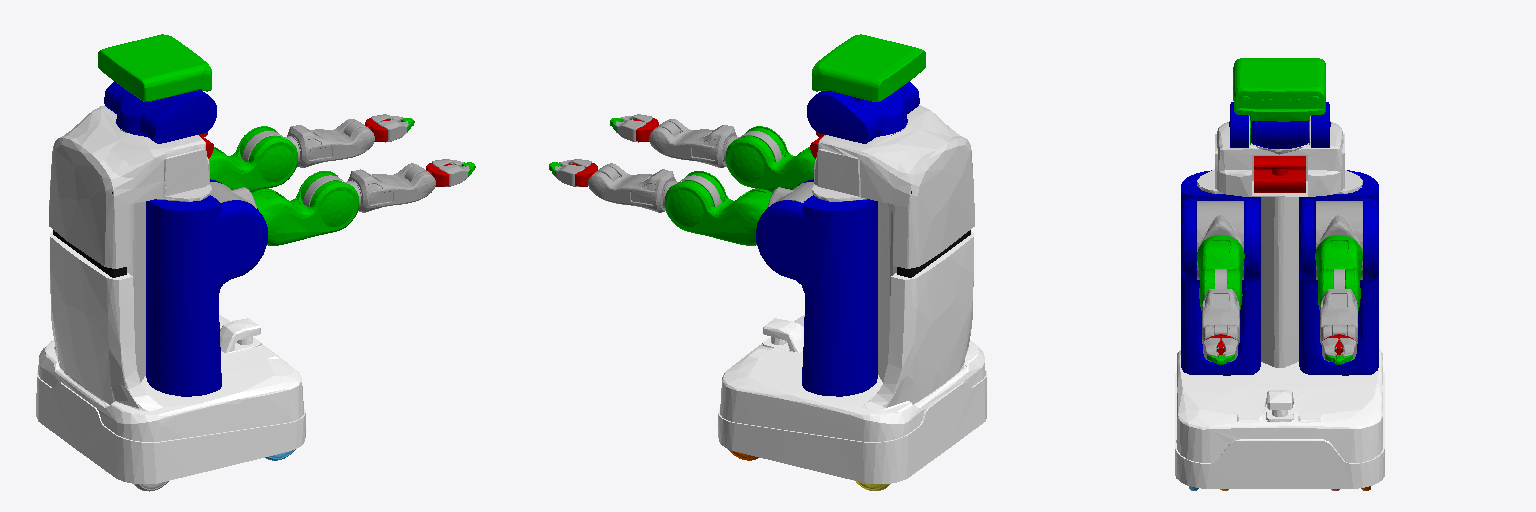
--- Render facts (derived) ---
Views: 3 orthographic renders of the robot side by side, from view 1: azimuth 30°, elevation 25°; view 2: azimuth 150°, elevation 25°; view 3: azimuth 270°, elevation 25°.
Model pr2 with 95 links and 94 joints (21 revolute, 19 continuous, 5 prismatic, 49 fixed), rooted at base_footprint, posed all joints at 0.
Links seen in each view (by area): view 1: base_link, torso_lift_link, r_shoulder_pan_link, head_tilt_link, r_upper_arm_link, head_pan_link, l_upper_arm_link, l_forearm_link, r_forearm_link, r_shoulder_lift_link; view 2: base_link, torso_lift_link, l_shoulder_pan_link, head_tilt_link, l_upper_arm_link, head_pan_link, r_upper_arm_link, r_forearm_link, l_forearm_link, l_shoulder_lift_link; view 3: base_link, torso_lift_link, l_shoulder_pan_link, r_shoulder_pan_link, head_tilt_link, head_pan_link, r_upper_arm_link, l_upper_arm_link, laser_tilt_mount_link, r_shoulder_lift_link, l_shoulder_lift_link, l_forearm_link (+1 smaller).
Link boxes in pixels (<box>): base_link: <box>36,231,305,484</box>; torso_lift_link: <box>49,105,211,381</box>; r_shoulder_pan_link: <box>146,179,267,396</box>; head_tilt_link: <box>98,34,211,101</box>; r_upper_arm_link: <box>251,171,358,245</box>; head_pan_link: <box>104,81,216,143</box>; l_upper_arm_link: <box>209,126,297,191</box>; l_forearm_link: <box>287,119,374,167</box>; r_forearm_link: <box>348,163,435,212</box>; r_shoulder_lift_link: <box>210,182,256,208</box>; base_link: <box>718,231,986,483</box>; torso_lift_link: <box>812,105,974,381</box>; l_shoulder_pan_link: <box>756,179,877,396</box>; head_tilt_link: <box>812,34,925,101</box>; l_upper_arm_link: <box>665,171,771,245</box>; head_pan_link: <box>807,81,919,143</box>; r_upper_arm_link: <box>726,126,814,192</box>; r_forearm_link: <box>649,119,736,167</box>; l_forearm_link: <box>588,163,675,212</box>; l_shoulder_lift_link: <box>767,182,813,207</box>; base_link: <box>1175,349,1384,488</box>; torso_lift_link: <box>1197,116,1362,367</box>; l_shoulder_pan_link: <box>1299,170,1378,375</box>; r_shoulder_pan_link: <box>1181,170,1260,375</box>; head_tilt_link: <box>1233,58,1325,144</box>; head_pan_link: <box>1229,102,1330,148</box>; r_upper_arm_link: <box>1197,235,1244,310</box>; l_upper_arm_link: <box>1315,235,1362,310</box>; laser_tilt_mount_link: <box>1254,156,1305,192</box>; r_shoulder_lift_link: <box>1197,201,1243,279</box>; l_shoulder_lift_link: <box>1316,201,1362,279</box>; l_forearm_link: <box>1320,289,1357,344</box>.
Bounding box of the posed robot: 1.31 × 0.6668 × 1.47 m (x, y, z).
Meshes: 20 distinct files referenced, 35 mesh visuals loaded (15 Collada DAE); not drawn: 11 (reference not matched to a file when rendering).

The robot description file, URDF, robot "pr2":
<?xml version="1.0" ?>
<robot name="pr2" xmlns:body="http://playerstage.sourceforge.net/gazebo/xmlschema/#body" xmlns:controller="http://playerstage.sourceforge.net/gazebo/xmlschema/#controller" xmlns:geom="http://playerstage.sourceforge.net/gazebo/xmlschema/#geom" xmlns:interface="http://playerstage.sourceforge.net/gazebo/xmlschema/#interface" xmlns:joint="http://playerstage.sourceforge.net/gazebo/xmlschema/#joint" xmlns:sensor="http://playerstage.sourceforge.net/gazebo/xmlschema/#sensor" xmlns:xacro="http://ros.org/wiki/xacro">
  <gazebo>
    <controller:gazebo_ros_controller_manager name="gazebo_ros_controller_manager" plugin="libgazebo_ros_controller_manager.so">
      <alwaysOn>true</alwaysOn>
      <updateRate>1000.0</updateRate>
      <interface:audio name="gazebo_ros_controller_manager_dummy_iface"/>
    </controller:gazebo_ros_controller_manager>
    <controller:gazebo_ros_power_monitor name="gazebo_ros_power_monitor_controller" plugin="libgazebo_ros_power_monitor.so">
      <alwaysOn>true</alwaysOn>
      <updateRate>1.0</updateRate>
      <timeout>5</timeout>
      <interface:audio name="power_monitor_dummy_interface"/>
      <powerStateTopic>power_state</powerStateTopic>
      <powerStateRate>10.0</powerStateRate>
      <fullChargeCapacity>87.78</fullChargeCapacity>
      <dischargeRate>-474</dischargeRate>
      <chargeRate>525</chargeRate>
      <dischargeVoltage>15.52</dischargeVoltage>
      <chargeVoltage>16.41</chargeVoltage>
    </controller:gazebo_ros_power_monitor>
  </gazebo>
  <material name="Blue">
    <color rgba="0 0 0.8 1"/>
  </material>
  <material name="Green">
    <color rgba="0 0.8 0 1"/>
  </material>
  <material name="Grey">
    <color rgba="0.7 0.7 0.7 1"/>
  </material>
  <material name="Grey2">
    <color rgba="0.9 0.9 0.9 1"/>
  </material>
  <material name="Red">
    <color rgba="0.8 0 0 1"/>
  </material>
  <material name="White">
    <color rgba="1 1 1 1"/>
  </material>
  <material name="Black">
    <color rgba="0.1 0.1 0.1 1"/>
  </material>
  <material name="LightGrey">
    <color rgba="0.6 0.6 0.6 1"/>
  </material>
  <material name="Caster">
    <texture filename="package://pr2_description/materials/textures/pr2_caster_texture.png"/>
  </material>
  <material name="Wheel_l">
    <texture filename="package://pr2_description/materials/textures/pr2_wheel_left.png"/>
  </material>
  <material name="Wheel_r">
    <texture filename="package://pr2_description/materials/textures/pr2_wheel_right.png"/>
  </material>
  <material name="RollLinks">
    <texture filename="package://pr2_description/materials/textures/pr2_wheel_left.png"/>
  </material>
  <link name="base_link">
    <inertial>
      <mass value="116"/>
      <origin xyz="-0.061 0 0.1465"/>
      <inertia ixx="5.652232699207" ixy="-0.009719934438" ixz="1.293988226423" iyy="5.669473158652" iyz="-0.007379583694" izz="3.683196351726"/>
    </inertial>
    <visual>
      <origin rpy="0 0 0" xyz="0 0 0"/>
      <geometry>
        <mesh filename="package://pr2_description/meshes/base_v0/base.dae"/>
      </geometry>
      <material name="White"/>
    </visual>
    <collision>
      <origin rpy="0 0 0" xyz="0 0 0"/>
      <geometry>
        <mesh filename="package://pr2_description/meshes/base_v0/base_L.stl"/>
      </geometry>
    </collision>
  </link>
  <link name="base_footprint">
    <inertial>
      <mass value="1"/>
      <origin xyz="0 0 0"/>
      <inertia ixx="0.01" ixy="0" ixz="0" iyy="0.01" iyz="0" izz="0.01"/>
    </inertial>
    <visual>
      <origin rpy="0 0 0" xyz="0 0 0"/>
      <geometry>
        <box size="0.01 0.01 0.01"/>
      </geometry>
      <material name="White"/>
    </visual>
    <collision>
      <origin rpy="0 0 0" xyz="0 0 0.071"/>
      <geometry>
        <box size="0.001 0.001 0.001"/>
      </geometry>
    </collision>
  </link>
  <joint name="base_footprint_joint" type="fixed">
    <parent link="base_footprint"/>
    <child link="base_link"/>
    <origin rpy="0 0 0" xyz="0 0 0.051"/>
  </joint>
  <link name="base_bellow_link">
    <inertial>
      <mass value="1"/>
      <origin xyz="0 0 0"/>
      <inertia ixx="0.01" ixy="0" ixz="0" iyy="0.01" iyz="0" izz="0.01"/>
    </inertial>
    <visual>
      <origin rpy="0 0 0" xyz="0 0 0"/>
      <geometry>
        <box size="0.05 0.37 0.3"/>
      </geometry>
      <material name="Black"/>
    </visual>
    <collision>
      <origin rpy="0 0 0" xyz="0 0 0"/>
      <geometry>
        <box size="0.05 0.37 0.3"/>
      </geometry>
    </collision>
  </link>
  <joint name="base_bellow_joint" type="fixed">
    <parent link="base_link"/>
    <child link="base_bellow_link"/>
    <origin rpy="0 0 0" xyz="-0.29 0 0.8"/>
  </joint>
  <joint name="base_laser_joint" type="fixed">
    <parent link="base_link"/>
    <child link="base_laser_link"/>
    <origin rpy="0 0 0" xyz="0.275 0 0.252"/>
    <axis xyz="0 1 0"/>
  </joint>
  <link name="base_laser_link" type="laser">
    <inertial>
      <mass value="0.001"/>
      <origin rpy="0 0 0" xyz="0 0 0"/>
      <inertia ixx="0.0001" ixy="0" ixz="0" iyy="0.000001" iyz="0" izz="0.0001"/>
    </inertial>
  </link>
  <gazebo reference="base_laser_link">
    <sensor:ray name="base_laser">
      <rayCount>640</rayCount>
      <rangeCount>640</rangeCount>
      <laserCount>1</laserCount>
      <origin>0.0 0.0 0.0</origin>
      <displayRays>false</displayRays>
      <minAngle>-129.998394137</minAngle>
      <maxAngle>129.998394137</maxAngle>
      <minRange>0.08</minRange>
      <maxRange>10.0</maxRange>
      <resRange>0.01</resRange>
      <updateRate>20</updateRate>
      <controller:gazebo_ros_laser name="gazebo_ros_base_laser_controller" plugin="libgazebo_ros_laser.so">
        <gaussianNoise>0.005</gaussianNoise>
        <alwaysOn>true</alwaysOn>
        <updateRate>20</updateRate>
        <topicName>base_scan</topicName>
        <frameName>base_laser_link</frameName>
        <interface:laser name="gazebo_ros_base_laser_iface"/>
      </controller:gazebo_ros_laser>
    </sensor:ray>
  </gazebo>
  <joint name="fl_caster_rotation_joint" type="continuous">
    <parent link="base_link"/>
    <child link="fl_caster_rotation_link"/>
    <origin rpy="0 0 0" xyz="0.2246 0.2246 0.0282"/>
    <axis xyz="0 0 1"/>
    <limit effort="100" velocity="100"/>
    <dynamics damping="0.0" friction="0.0"/>
    <safety_controller k_velocity="10"/>
    <calibration rising="-0.785398163397"/>
  </joint>
  <link name="fl_caster_rotation_link">
    <inertial>
      <mass value="3.473082"/>
      <origin xyz="0 0 0.07"/>
      <inertia ixx="0.012411765597" ixy="-0.000711733678" ixz="0.00050272983" iyy="0.015218160428" iyz="-0.000004273467" izz="0.011763977943"/>
    </inertial>
    <visual>
      <origin rpy="0 0 0" xyz="0 0 0"/>
      <geometry>
        <mesh filename="package://pr2_description/meshes/base_v0/caster.stl"/>
      </geometry>
      <material name="Caster"/>
    </visual>
    <collision>
      <origin rpy="0 0 0" xyz="0 0 0"/>
      <geometry>
        <mesh filename="package://pr2_description/meshes/base_v0/caster_L.stl"/>
      </geometry>
    </collision>
  </link>
  <transmission name="fl_caster_rotation_trans" type="pr2_mechanism_model/SimpleTransmission">
    <actuator name="fl_caster_rotation_motor"/>
    <joint name="fl_caster_rotation_joint"/>
    <mechanicalReduction>-79.2380952381</mechanicalReduction>
  </transmission>
  <joint name="fl_caster_l_wheel_joint" type="continuous">
    <parent link="fl_caster_rotation_link"/>
    <child link="fl_caster_l_wheel_link"/>
    <origin rpy="0 0 0" xyz="0 0.049 0"/>
    <axis xyz="0 1 0"/>
    <limit effort="100" velocity="100"/>
    <dynamics damping="0.0" friction="0.0"/>
    <safety_controller k_velocity="10"/>
  </joint>
  <link name="fl_caster_l_wheel_link">
    <inertial>
      <mass value="0.44036"/>
      <origin xyz="0 0 0"/>
      <inertia ixx="0.012411765597" ixy="-0.000711733678" ixz="0.00050272983" iyy="0.015218160428" iyz="-0.000004273467" izz="0.011763977943"/>
    </inertial>
    <visual>
      <origin rpy="0 0 0" xyz="0 0 0"/>
      <geometry>
        <mesh filename="package://pr2_description/meshes/base_v0/wheel.dae"/>
      </geometry>
      <material name="Wheel_l"/>
    </visual>
    <collision>
      <origin rpy="1.57079632679 0 0" xyz="0 0 0"/>
      <geometry>
        <cylinder length="0.034" radius="0.074792"/>
      </geometry>
    </collision>
  </link>
  <gazebo reference="fl_caster_l_wheel_link">
    <mu1 value="100.0"/>
    <mu2 value="100.0"/>
    <kp value="1000000.0"/>
    <kd value="1.0"/>
  </gazebo>
  <transmission name="fl_caster_l_wheel_trans" type="pr2_mechanism_model/SimpleTransmission">
    <actuator name="fl_caster_l_wheel_motor"/>
    <joint name="fl_caster_l_wheel_joint"/>
    <mechanicalReduction>79.2380952381</mechanicalReduction>
  </transmission>
  <joint name="fl_caster_r_wheel_joint" type="continuous">
    <parent link="fl_caster_rotation_link"/>
    <child link="fl_caster_r_wheel_link"/>
    <origin rpy="0 0 0" xyz="0 -0.049 0"/>
    <axis xyz="0 1 0"/>
    <limit effort="100" velocity="100"/>
    <dynamics damping="0.0" friction="0.0"/>
    <safety_controller k_velocity="10"/>
  </joint>
  <link name="fl_caster_r_wheel_link">
    <inertial>
      <mass value="0.44036"/>
      <origin xyz="0 0 0"/>
      <inertia ixx="0.012411765597" ixy="-0.000711733678" ixz="0.00050272983" iyy="0.015218160428" iyz="-0.000004273467" izz="0.011763977943"/>
    </inertial>
    <visual>
      <origin rpy="0 0 0" xyz="0 0 0"/>
      <geometry>
        <mesh filename="package://pr2_description/meshes/base_v0/wheel.dae"/>
      </geometry>
      <material name="Wheel_r"/>
    </visual>
    <collision>
      <origin rpy="1.57079632679 0 0" xyz="0 0 0"/>
      <geometry>
        <cylinder length="0.034" radius="0.074792"/>
      </geometry>
    </collision>
  </link>
  <gazebo reference="fl_caster_r_wheel_link">
    <mu1 value="100.0"/>
    <mu2 value="100.0"/>
    <kp value="1000000.0"/>
    <kd value="1.0"/>
  </gazebo>
  <transmission name="fl_caster_r_wheel_trans" type="pr2_mechanism_model/SimpleTransmission">
    <actuator name="fl_caster_r_wheel_motor"/>
    <joint name="fl_caster_r_wheel_joint"/>
    <mechanicalReduction>-79.2380952381</mechanicalReduction>
  </transmission>
  <gazebo reference="fl_caster_rotation_link">
    <material value="PR2/caster_texture"/>
  </gazebo>
  <joint name="fr_caster_rotation_joint" type="continuous">
    <parent link="base_link"/>
    <child link="fr_caster_rotation_link"/>
    <origin rpy="0 0 0" xyz="0.2246 -0.2246 0.0282"/>
    <axis xyz="0 0 1"/>
    <limit effort="100" velocity="100"/>
    <dynamics damping="0.0" friction="0.0"/>
    <safety_controller k_velocity="10"/>
    <calibration rising="-0.785398163397"/>
  </joint>
  <link name="fr_caster_rotation_link">
    <inertial>
      <mass value="3.473082"/>
      <origin xyz="0 0 0.07"/>
      <inertia ixx="0.012411765597" ixy="-0.000711733678" ixz="0.00050272983" iyy="0.015218160428" iyz="-0.000004273467" izz="0.011763977943"/>
    </inertial>
    <visual>
      <origin rpy="0 0 0" xyz="0 0 0"/>
      <geometry>
        <mesh filename="package://pr2_description/meshes/base_v0/caster.stl"/>
      </geometry>
      <material name="Caster"/>
    </visual>
    <collision>
      <origin rpy="0 0 0" xyz="0 0 0"/>
      <geometry>
        <mesh filename="package://pr2_description/meshes/base_v0/caster_L.stl"/>
      </geometry>
    </collision>
  </link>
  <transmission name="fr_caster_rotation_trans" type="pr2_mechanism_model/SimpleTransmission">
    <actuator name="fr_caster_rotation_motor"/>
    <joint name="fr_caster_rotation_joint"/>
    <mechanicalReduction>-79.2380952381</mechanicalReduction>
  </transmission>
  <joint name="fr_caster_l_wheel_joint" type="continuous">
    <parent link="fr_caster_rotation_link"/>
    <child link="fr_caster_l_wheel_link"/>
    <origin rpy="0 0 0" xyz="0 0.049 0"/>
    <axis xyz="0 1 0"/>
    <limit effort="100" velocity="100"/>
    <dynamics damping="0.0" friction="0.0"/>
    <safety_controller k_velocity="10"/>
  </joint>
  <link name="fr_caster_l_wheel_link">
    <inertial>
      <mass value="0.44036"/>
      <origin xyz="0 0 0"/>
      <inertia ixx="0.012411765597" ixy="-0.000711733678" ixz="0.00050272983" iyy="0.015218160428" iyz="-0.000004273467" izz="0.011763977943"/>
    </inertial>
    <visual>
      <origin rpy="0 0 0" xyz="0 0 0"/>
      <geometry>
        <mesh filename="package://pr2_description/meshes/base_v0/wheel.dae"/>
      </geometry>
      <material name="Wheel_l"/>
    </visual>
    <collision>
      <origin rpy="1.57079632679 0 0" xyz="0 0 0"/>
      <geometry>
        <cylinder length="0.034" radius="0.074792"/>
      </geometry>
    </collision>
  </link>
  <gazebo reference="fr_caster_l_wheel_link">
    <mu1 value="100.0"/>
    <mu2 value="100.0"/>
    <kp value="1000000.0"/>
    <kd value="1.0"/>
  </gazebo>
  <transmission name="fr_caster_l_wheel_trans" type="pr2_mechanism_model/SimpleTransmission">
    <actuator name="fr_caster_l_wheel_motor"/>
    <joint name="fr_caster_l_wheel_joint"/>
    <mechanicalReduction>79.2380952381</mechanicalReduction>
  </transmission>
  <joint name="fr_caster_r_wheel_joint" type="continuous">
    <parent link="fr_caster_rotation_link"/>
    <child link="fr_caster_r_wheel_link"/>
    <origin rpy="0 0 0" xyz="0 -0.049 0"/>
    <axis xyz="0 1 0"/>
    <limit effort="100" velocity="100"/>
    <dynamics damping="0.0" friction="0.0"/>
    <safety_controller k_velocity="10"/>
  </joint>
  <link name="fr_caster_r_wheel_link">
    <inertial>
      <mass value="0.44036"/>
      <origin xyz="0 0 0"/>
      <inertia ixx="0.012411765597" ixy="-0.000711733678" ixz="0.00050272983" iyy="0.015218160428" iyz="-0.000004273467" izz="0.011763977943"/>
    </inertial>
    <visual>
      <origin rpy="0 0 0" xyz="0 0 0"/>
      <geometry>
        <mesh filename="package://pr2_description/meshes/base_v0/wheel.dae"/>
      </geometry>
      <material name="Wheel_r"/>
    </visual>
    <collision>
      <origin rpy="1.57079632679 0 0" xyz="0 0 0"/>
      <geometry>
        <cylinder length="0.034" radius="0.074792"/>
      </geometry>
    </collision>
  </link>
  <gazebo reference="fr_caster_r_wheel_link">
    <mu1 value="100.0"/>
    <mu2 value="100.0"/>
    <kp value="1000000.0"/>
    <kd value="1.0"/>
  </gazebo>
  <transmission name="fr_caster_r_wheel_trans" type="pr2_mechanism_model/SimpleTransmission">
    <actuator name="fr_caster_r_wheel_motor"/>
    <joint name="fr_caster_r_wheel_joint"/>
    <mechanicalReduction>-79.2380952381</mechanicalReduction>
  </transmission>
  <gazebo reference="fr_caster_rotation_link">
    <material value="PR2/caster_texture"/>
  </gazebo>
  <joint name="bl_caster_rotation_joint" type="continuous">
    <parent link="base_link"/>
    <child link="bl_caster_rotation_link"/>
    <origin rpy="0 0 0" xyz="-0.2246 0.2246 0.0282"/>
    <axis xyz="0 0 1"/>
    <limit effort="100" velocity="100"/>
    <dynamics damping="0.0" friction="0.0"/>
    <safety_controller k_velocity="10"/>
    <calibration rising="2.35619449019"/>
  </joint>
  <link name="bl_caster_rotation_link">
    <inertial>
      <mass value="3.473082"/>
      <origin xyz="0 0 0.07"/>
      <inertia ixx="0.012411765597" ixy="-0.000711733678" ixz="0.00050272983" iyy="0.015218160428" iyz="-0.000004273467" izz="0.011763977943"/>
    </inertial>
    <visual>
      <origin rpy="0 0 0" xyz="0 0 0"/>
      <geometry>
        <mesh filename="package://pr2_description/meshes/base_v0/caster.stl"/>
      </geometry>
      <material name="Caster"/>
    </visual>
    <collision>
      <origin rpy="0 0 0" xyz="0 0 0"/>
      <geometry>
        <mesh filename="package://pr2_description/meshes/base_v0/caster_L.stl"/>
      </geometry>
    </collision>
  </link>
  <transmission name="bl_caster_rotation_trans" type="pr2_mechanism_model/SimpleTransmission">
    <actuator name="bl_caster_rotation_motor"/>
    <joint name="bl_caster_rotation_joint"/>
    <mechanicalReduction>-79.2380952381</mechanicalReduction>
  </transmission>
  <joint name="bl_caster_l_wheel_joint" type="continuous">
    <parent link="bl_caster_rotation_link"/>
    <child link="bl_caster_l_wheel_link"/>
    <origin rpy="0 0 0" xyz="0 0.049 0"/>
    <axis xyz="0 1 0"/>
    <limit effort="100" velocity="100"/>
    <dynamics damping="0.0" friction="0.0"/>
    <safety_controller k_velocity="10"/>
  </joint>
  <link name="bl_caster_l_wheel_link">
    <inertial>
      <mass value="0.44036"/>
      <origin xyz="0 0 0"/>
      <inertia ixx="0.012411765597" ixy="-0.000711733678" ixz="0.00050272983" iyy="0.015218160428" iyz="-0.000004273467" izz="0.011763977943"/>
    </inertial>
    <visual>
      <origin rpy="0 0 0" xyz="0 0 0"/>
      <geometry>
        <mesh filename="package://pr2_description/meshes/base_v0/wheel.dae"/>
      </geometry>
      <material name="Wheel_l"/>
    </visual>
    <collision>
      <origin rpy="1.57079632679 0 0" xyz="0 0 0"/>
      <geometry>
        <cylinder length="0.034" radius="0.074792"/>
      </geometry>
    </collision>
  </link>
  <gazebo reference="bl_caster_l_wheel_link">
    <mu1 value="100.0"/>
    <mu2 value="100.0"/>
    <kp value="1000000.0"/>
    <kd value="1.0"/>
  </gazebo>
  <transmission name="bl_caster_l_wheel_trans" type="pr2_mechanism_model/SimpleTransmission">
    <actuator name="bl_caster_l_wheel_motor"/>
    <joint name="bl_caster_l_wheel_joint"/>
    <mechanicalReduction>79.2380952381</mechanicalReduction>
  </transmission>
  <joint name="bl_caster_r_wheel_joint" type="continuous">
    <parent link="bl_caster_rotation_link"/>
    <child link="bl_caster_r_wheel_link"/>
    <origin rpy="0 0 0" xyz="0 -0.049 0"/>
    <axis xyz="0 1 0"/>
    <limit effort="100" velocity="100"/>
    <dynamics damping="0.0" friction="0.0"/>
    <safety_controller k_velocity="10"/>
  </joint>
  <link name="bl_caster_r_wheel_link">
    <inertial>
      <mass value="0.44036"/>
      <origin xyz="0 0 0"/>
      <inertia ixx="0.012411765597" ixy="-0.000711733678" ixz="0.00050272983" iyy="0.015218160428" iyz="-0.000004273467" izz="0.011763977943"/>
    </inertial>
    <visual>
      <origin rpy="0 0 0" xyz="0 0 0"/>
      <geometry>
        <mesh filename="package://pr2_description/meshes/base_v0/wheel.dae"/>
      </geometry>
      <material name="Wheel_r"/>
    </visual>
    <collision>
      <origin rpy="1.57079632679 0 0" xyz="0 0 0"/>
      <geometry>
        <cylinder length="0.034" radius="0.074792"/>
      </geometry>
    </collision>
  </link>
  <gazebo reference="bl_caster_r_wheel_link">
    <mu1 value="100.0"/>
    <mu2 value="100.0"/>
    <kp value="1000000.0"/>
    <kd value="1.0"/>
  </gazebo>
  <transmission name="bl_caster_r_wheel_trans" type="pr2_mechanism_model/SimpleTransmission">
    <actuator name="bl_caster_r_wheel_motor"/>
    <joint name="bl_caster_r_wheel_joint"/>
    <mechanicalReduction>-79.2380952381</mechanicalReduction>
  </transmission>
  <gazebo reference="bl_caster_rotation_link">
    <material value="PR2/caster_texture"/>
  </gazebo>
  <joint name="br_caster_rotation_joint" type="continuous">
    <parent link="base_link"/>
    <child link="br_caster_rotation_link"/>
    <origin rpy="0 0 0" xyz="-0.2246 -0.2246 0.0282"/>
    <axis xyz="0 0 1"/>
    <limit effort="100" velocity="100"/>
    <dynamics damping="0.0" friction="0.0"/>
    <safety_controller k_velocity="10"/>
    <calibration rising="2.35619449019"/>
  </joint>
  <link name="br_caster_rotation_link">
    <inertial>
      <mass value="3.473082"/>
      <origin xyz="0 0 0.07"/>
      <inertia ixx="0.012411765597" ixy="-0.000711733678" ixz="0.00050272983" iyy="0.015218160428" iyz="-0.000004273467" izz="0.011763977943"/>
    </inertial>
    <visual>
      <origin rpy="0 0 0" xyz="0 0 0"/>
      <geometry>
        <mesh filename="package://pr2_description/meshes/base_v0/caster.stl"/>
      </geometry>
      <material name="Caster"/>
    </visual>
    <collision>
      <origin rpy="0 0 0" xyz="0 0 0"/>
      <geometry>
        <mesh filename="package://pr2_description/meshes/base_v0/caster_L.stl"/>
      </geometry>
    </collision>
  </link>
  <transmission name="br_caster_rotation_trans" type="pr2_mechanism_model/SimpleTransmission">
    <actuator name="br_caster_rotation_motor"/>
    <joint name="br_caster_rotation_joint"/>
    <mechanicalReduction>-79.2380952381</mechanicalReduction>
  </transmission>
  <joint name="br_caster_l_wheel_joint" type="continuous">
    <parent link="br_caster_rotation_link"/>
    <child link="br_caster_l_wheel_link"/>
    <origin rpy="0 0 0" xyz="0 0.049 0"/>
    <axis xyz="0 1 0"/>
    <limit effort="100" velocity="100"/>
    <dynamics damping="0.0" friction="0.0"/>
    <safety_controller k_velocity="10"/>
  </joint>
  <link name="br_caster_l_wheel_link">
    <inertial>
      <mass value="0.44036"/>
      <origin xyz="0 0 0"/>
      <inertia ixx="0.012411765597" ixy="-0.000711733678" ixz="0.00050272983" iyy="0.015218160428" iyz="-0.000004273467" izz="0.011763977943"/>
    </inertial>
    <visual>
      <origin rpy="0 0 0" xyz="0 0 0"/>
      <geometry>
        <mesh filename="package://pr2_description/meshes/base_v0/wheel.dae"/>
      </geometry>
      <material name="Wheel_l"/>
    </visual>
    <collision>
      <origin rpy="1.57079632679 0 0" xyz="0 0 0"/>
      <geometry>
        <cylinder length="0.034" radius="0.074792"/>
      </geometry>
    </collision>
  </link>
  <gazebo reference="br_caster_l_wheel_link">
    <mu1 value="100.0"/>
    <mu2 value="100.0"/>
    <kp value="1000000.0"/>
    <kd value="1.0"/>
  </gazebo>
  <transmission name="br_caster_l_wheel_trans" type="pr2_mechanism_model/SimpleTransmission">
    <actuator name="br_caster_l_wheel_motor"/>
    <joint name="br_caster_l_wheel_joint"/>
    <mechanicalReduction>79.2380952381</mechanicalReduction>
  </transmission>
  <joint name="br_caster_r_wheel_joint" type="continuous">
    <parent link="br_caster_rotation_link"/>
    <child link="br_caster_r_wheel_link"/>
    <origin rpy="0 0 0" xyz="0 -0.049 0"/>
    <axis xyz="0 1 0"/>
    <limit effort="100" velocity="100"/>
    <dynamics damping="0.0" friction="0.0"/>
    <safety_controller k_velocity="10"/>
  </joint>
  <link name="br_caster_r_wheel_link">
    <inertial>
      <mass value="0.44036"/>
      <origin xyz="0 0 0"/>
      <inertia ixx="0.012411765597" ixy="-0.000711733678" ixz="0.00050272983" iyy="0.015218160428" iyz="-0.000004273467" izz="0.011763977943"/>
    </inertial>
    <visual>
      <origin rpy="0 0 0" xyz="0 0 0"/>
      <geometry>
        <mesh filename="package://pr2_description/meshes/base_v0/wheel.dae"/>
      </geometry>
      <material name="Wheel_r"/>
    </visual>
    <collision>
      <origin rpy="1.57079632679 0 0" xyz="0 0 0"/>
      <geometry>
        <cylinder length="0.034" radius="0.074792"/>
      </geometry>
    </collision>
  </link>
  <gazebo reference="br_caster_r_wheel_link">
    <mu1 value="100.0"/>
    <mu2 value="100.0"/>
    <kp value="1000000.0"/>
    <kd value="1.0"/>
  </gazebo>
  <transmission name="br_caster_r_wheel_trans" type="pr2_mechanism_model/SimpleTransmission">
    <actuator name="br_caster_r_wheel_motor"/>
    <joint name="br_caster_r_wheel_joint"/>
    <mechanicalReduction>-79.2380952381</mechanicalReduction>
  </transmission>
  <gazebo reference="br_caster_rotation_link">
    <material value="PR2/caster_texture"/>
  </gazebo>
  <gazebo reference="base_link">
    <selfCollide>false</selfCollide>
    <sensor:contact name="base_contact_sensor">
      <geom>base_link_geom</geom>
      <updateRate>100.0</updateRate>
      <controller:gazebo_ros_bumper name="base_gazebo_ros_bumper_controller" plugin="libgazebo_ros_bumper.so">
        <alwaysOn>true</alwaysOn>
        <updateRate>100.0</updateRate>
        <bumperTopicName>base_bumper</bumperTopicName>
        <interface:bumper name="base_bumper_iface"/>
      </controller:gazebo_ros_bumper>
    </sensor:contact>
  </gazebo>
  <gazebo reference="base_bellow_link">
    <material value="PR2/Black"/>
  </gazebo>
  <gazebo>
    <controller:gazebo_ros_p3d name="p3d_base_controller" plugin="libgazebo_ros_p3d.so">
      <alwaysOn>true</alwaysOn>
      <updateRate>100.0</updateRate>
      <bodyName/>
      <topicName>base_pose_ground_truth</topicName>
      <gaussianNoise>0.01</gaussianNoise>
      <frameName>map</frameName>
      <xyzOffsets>0 0 0</xyzOffsets>
      <rpyOffsets>0 0 0</rpyOffsets>
      <interface:position name="p3d_base_position"/>
    </controller:gazebo_ros_p3d>
    <canonicalBody>base_footprint</canonicalBody>
  </gazebo>
  <joint name="torso_lift_joint" type="prismatic">
    <parent link="base_link"/>
    <child link="torso_lift_link"/>
    <origin rpy="0 0 0" xyz="-0.05 0 0.739675"/>
    <axis xyz="0 0 1"/>
    <limit effort="10000" lower="0" upper="0.33" velocity="0.013"/>
    <dynamics damping="20000.0"/>
    <safety_controller k_position="100" k_velocity="2000000" soft_lower_limit="0.0115" soft_upper_limit="0.325"/>
    <calibration falling="0.00475"/>
  </joint>
  <link name="torso_lift_link">
    <inertial>
      <mass value="36.248046"/>
      <origin xyz="-0.1 0 -0.0885"/>
      <inertia ixx="2.771653750257" ixy="0.004284522609" ixz="-0.160418504506" iyy="2.510019507959" iyz="0.029664468704" izz="0.526432355569"/>
    </inertial>
    <visual>
      <origin rpy="0 0 0" xyz="0 0 0"/>
      <geometry>
        <mesh filename="package://pr2_description/meshes/torso_v0/torso_lift.dae"/>
      </geometry>
      <material name="Grey2"/>
    </visual>
    <collision>
      <origin rpy="0 0 0" xyz="0 0 0"/>
      <geometry>
        <mesh filename="package://pr2_description/meshes/torso_v0/torso_lift_L.stl"/>
      </geometry>
    </collision>
  </link>
  <joint name="l_torso_lift_side_plate_joint" type="fixed">
    <parent link="torso_lift_link"/>
    <child link="l_torso_lift_side_plate_link"/>
    <origin rpy="0 0 0" xyz="0.0535 0.209285 0.176625"/>
  </joint>
  <link name="l_torso_lift_side_plate_link">
    <inertial>
      <mass value="0.1"/>
      <origin xyz="-0.0625 0 0.05"/>
      <inertia ixx="0.001" ixy="0" ixz="0" iyy="0.001" iyz="0" izz="0.001"/>
    </inertial>
  </link>
  <joint name="r_torso_lift_side_plate_joint" type="fixed">
    <parent link="torso_lift_link"/>
    <child link="r_torso_lift_side_plate_link"/>
    <origin rpy="0 0 0" xyz="0.0535 -0.209285 0.176625"/>
  </joint>
  <link name="r_torso_lift_side_plate_link">
    <inertial>
      <mass value="0.1"/>
      <origin xyz="-0.0625 0 0.05"/>
      <inertia ixx="0.001" ixy="0" ixz="0" iyy="0.001" iyz="0" izz="0.001"/>
    </inertial>
  </link>
  <link name="torso_lift_motor_screw_link">
    <inertial>
      <mass value="1"/>
      <origin rpy="0 0 0" xyz="0 0 0"/>
      <inertia ixx="0.001" ixy="0" ixz="0" iyy="0.001" iyz="0" izz="0.001"/>
    </inertial>
  </link>
  <joint name="torso_lift_motor_screw_joint" type="continuous">
    <parent link="base_link"/>
    <child link="torso_lift_motor_screw_link"/>
    <origin rpy="0 0 0" xyz="-0.15 0 0.7"/>
    <axis xyz="0 0 1"/>
    <dynamics damping="0.0001"/>
  </joint>
  <gazebo reference="torso_lift_link">
    <sensor:contact name="torso_lift_contact_sensor">
      <geom>torso_lift_link_geom</geom>
      <updateRate>100.0</updateRate>
      <controller:gazebo_ros_bumper name="torso_lift_gazebo_ros_bumper_controller" plugin="libgazebo_ros_bumper.so">
        <alwaysOn>true</alwaysOn>
        <updateRate>100.0</updateRate>
        <bumperTopicName>torso_lift_bumper</bumperTopicName>
        <interface:bumper name="torso_lift_gazebo_ros_bumper_iface"/>
      </controller:gazebo_ros_bumper>
    </sensor:contact>
  </gazebo>
  <gazebo>
    <joint:screw name="torso_lift_screw_torso_lift_joint">
      <body1/>
      <body2/>
      <anchor>torso_lift_motor_screw_link</anchor>
      <anchorOffset>0 0 0</anchorOffset>
      <axis>0 0 1</axis>
      <threadPitch>3141.6</threadPitch>
    </joint:screw>
  </gazebo>
  <transmission name="torso_lift_trans" type="pr2_mechanism_model/SimpleTransmission">
    <actuator name="torso_lift_motor"/>
    <joint name="torso_lift_joint"/>
    <mechanicalReduction>-47641.529999999999</mechanicalReduction>
    <simulated_actuated_joint name="torso_lift_motor_screw_joint" simulated_reduction="3141.6"/>
  </transmission>
  <joint name="imu_joint" type="fixed">
    <parent link="torso_lift_link"/>
    <child link="imu_link"/>
    <origin rpy="0 3.14159265359 0" xyz="-0.02977 -0.1497 0.164"/>
    <axis xyz="0 1 0"/>
  </joint>
  <link name="imu_link">
    <inertial>
      <mass value="0.001"/>
      <origin rpy="0 0 0" xyz="0 0 0"/>
      <inertia ixx="0.0001" ixy="0" ixz="0" iyy="0.000001" iyz="0" izz="0.0001"/>
    </inertial>
  </link>
  <gazebo>
    <controller:gazebo_ros_imu name="imu_controller" plugin="libgazebo_ros_imu.so">
      <alwaysOn>true</alwaysOn>
      <updateRate>100.0</updateRate>
      <bodyName/>
      <topicName>torso_lift_imu/data</topicName>
      <gaussianNoise>2.89e-08</gaussianNoise>
      <xyzOffsets>0 0 0</xyzOffsets>
      <rpyOffsets>0 0 0</rpyOffsets>
      <interface:position name="imu_position"/>
    </controller:gazebo_ros_imu>
  </gazebo>
  <joint name="head_pan_joint" type="revolute">
    <parent link="torso_lift_link"/>
    <child link="head_pan_link"/>
    <origin rpy="0 0 0" xyz="-0.01707 0 0.38145"/>
    <axis xyz="0 0 1"/>
    <limit effort="2.645" lower="-3.007" upper="3.007" velocity="6"/>
    <dynamics damping="0.5"/>
    <safety_controller k_position="100" k_velocity="1.5" soft_lower_limit="-2.857" soft_upper_limit="2.857"/>
    <calibration rising="-0.008252844573"/>
  </joint>
  <link name="head_pan_link">
    <inertial>
      <mass value="6.339"/>
      <origin rpy="0 0 0" xyz="0.010907 0.031693 0.090507"/>
      <inertia ixx="0.032497592" ixy="0.00063604088" ixz="0.0025851534" iyy="0.046545627" iyz="-0.0024534295" izz="0.057652724"/>
    </inertial>
    <visual>
      <origin rpy="0 0 0" xyz="0 0 0"/>
      <geometry>
        <mesh filename="package://pr2_description/meshes/head_v0/head_pan.dae"/>
      </geometry>
      <material name="Blue"/>
    </visual>
    <collision>
      <geometry>
        <mesh filename="package://pr2_description/meshes/head_v0/head_pan_L.stl"/>
      </geometry>
    </collision>
  </link>
  <transmission name="head_pan_trans" type="pr2_mechanism_model/SimpleTransmission">
    <actuator name="head_pan_motor"/>
    <joint name="head_pan_joint"/>
    <mechanicalReduction>6</mechanicalReduction>
  </transmission>
  <joint name="head_tilt_joint" type="revolute">
    <parent link="head_pan_link"/>
    <child link="head_tilt_link"/>
    <origin rpy="0 0 0" xyz="0.068 0 0"/>
    <axis xyz="0 1 0"/>
    <limit effort="18" lower="-0.471238" upper="1.39626" velocity="5"/>
    <dynamics damping="10.0"/>
    <safety_controller k_position="100" k_velocity="3" soft_lower_limit="-0.3712" soft_upper_limit="1.29626"/>
    <calibration falling="0"/>
  </joint>
  <link name="head_tilt_link">
    <inertial>
      <mass value="4.479"/>
      <origin rpy="0 0 0" xyz="0.001716 -0.019556 0.055002"/>
      <inertia ixx="0.024223222" ixy="0.00062063507" ixz="-0.000096909696" iyy="0.054723086" iyz="0.002797024" izz="0.067306377"/>
    </inertial>
    <visual>
      <origin rpy="0 0 0" xyz="0 0 0"/>
      <geometry>
        <mesh filename="package://pr2_description/meshes/head_v0/head_tilt.dae"/>
      </geometry>
      <material name="Green"/>
    </visual>
    <collision>
      <origin rpy="0 0 0" xyz="0 0 0"/>
      <geometry>
        <mesh filename="package://pr2_description/meshes/head_v0/head_tilt_L.stl"/>
      </geometry>
    </collision>
  </link>
  <transmission name="head_tilt_trans" type="pr2_mechanism_model/SimpleTransmission">
    <actuator name="head_tilt_motor"/>
    <joint name="head_tilt_joint"/>
    <mechanicalReduction>6</mechanicalReduction>
  </transmission>
  <joint name="head_plate_frame_joint" type="fixed">
    <parent link="head_tilt_link"/>
    <child link="head_plate_frame"/>
    <origin rpy="0 0 0" xyz="0.0232 0 0.0645"/>
  </joint>
  <link name="head_plate_frame">
    <inertial>
      <mass value="0.01"/>
      <origin rpy="0 0 0" xyz="0 0 0"/>
      <inertia ixx="0.001" ixy="0" ixz="0" iyy="0.001" iyz="0" izz="0.001"/>
    </inertial>
    <visual>
      <origin rpy="0 0 0" xyz="0 0 0"/>
      <geometry>
        <box size="0.01 0.01 0.01"/>
      </geometry>
      <material name="Blue"/>
    </visual>
    <collision>
      <origin rpy="0 0 0" xyz="0 0 0"/>
      <geometry>
        <box size="0.01 0.01 0.01"/>
      </geometry>
    </collision>
  </link>
  <gazebo reference="head_plate_frame">
    <material value="Gazebo/Grey"/>
  </gazebo>
  <joint name="sensor_mount_frame_joint" type="fixed">
    <parent link="head_plate_frame"/>
    <child link="sensor_mount_link"/>
    <origin rpy="0 0 0" xyz="0 0 0"/>
  </joint>
  <link name="sensor_mount_link">
    <inertial>
      <mass value="0.05"/>
      <origin rpy="0 0 0" xyz="0 0 0"/>
      <inertia ixx="0.001" ixy="0" ixz="0" iyy="0.001" iyz="0" izz="0.01"/>
    </inertial>
    <visual>
      <origin rpy="0 0 0" xyz="0 0 0"/>
      <geometry>
        <box size="0.01 0.01 0.01"/>
      </geometry>
      <material name="Blue"/>
    </visual>
  </link>
  <joint name="high_def_frame_joint" type="fixed">
    <parent link="sensor_mount_link"/>
    <child link="high_def_frame"/>
    <origin rpy="0.003950230149 0.009640277817 0.004751077372" xyz="0.067494638794 -0.105978808008 0.065286584089"/>
  </joint>
  <link name="high_def_frame">
    <inertial>
      <mass value="0.01"/>
      <origin rpy="0 0 0" xyz="0 0 0"/>
      <inertia ixx="0.001" ixy="0" ixz="0" iyy="0.001" iyz="0" izz="0.001"/>
    </inertial>
  </link>
  <joint name="high_def_optical_frame_joint" type="fixed">
    <parent link="high_def_frame"/>
    <child link="high_def_optical_frame"/>
    <origin rpy="-1.57079632679 0 -1.57079632679" xyz="0 0 0"/>
  </joint>
  <link name="high_def_optical_frame">
    <inertial>
      <mass value="0.01"/>
      <origin rpy="0 0 0" xyz="0 0 0"/>
      <inertia ixx="0.001" ixy="0" ixz="0" iyy="0.001" iyz="0" izz="0.001"/>
    </inertial>
  </link>
  <gazebo reference="high_def_frame">
    <sensor:camera name="high_def_sensor">
      <imageFormat>R8G8B8</imageFormat>
      <imageSize>2448 2050</imageSize>
      <hfov>45</hfov>
      <nearClip>0.1</nearClip>
      <farClip>100</farClip>
      <updateRate>20.0</updateRate>
      <controller:gazebo_ros_prosilica name="high_def_controller" plugin="libgazebo_ros_prosilica.so">
        <alwaysOn>true</alwaysOn>
        <updateRate>20.0</updateRate>
        <cameraName>prosilica</cameraName>
        <imageTopicName>image_raw</imageTopicName>
        <cameraInfoTopicName>camera_info</cameraInfoTopicName>
        <pollServiceName>request_image</pollServiceName>
        <frameName>high_def_optical_frame</frameName>
        <CxPrime>1224.5</CxPrime>
        <Cx>1224.5</Cx>
        <Cy>1025.5</Cy>
        <focalLength>2955</focalLength>
        <distortionK1>0.0</distortionK1>
        <distortionK2>0.0</distortionK2>
        <distortionK3>0.0</distortionK3>
        <distortionT1>0.0</distortionT1>
        <distortionT2>0.0</distortionT2>
      </controller:gazebo_ros_prosilica>
    </sensor:camera>
    <material value="Gazebo/Black"/>
  </gazebo>
  <joint name="double_stereo_frame_joint" type="fixed">
    <parent link="sensor_mount_link"/>
    <child link="double_stereo_link"/>
    <origin rpy="0 0 0" xyz="0 0 0"/>
  </joint>
  <link name="double_stereo_link">
    <inertial>
      <mass value="0.1"/>
      <origin rpy="0 0 0" xyz="0 0 0"/>
      <inertia ixx="0.001" ixy="0" ixz="0" iyy="0.001" iyz="0" izz="0.01"/>
    </inertial>
    <visual>
      <origin rpy="0 0 0" xyz="-0.01 0 0.025"/>
      <geometry>
        <box size="0.02 0.12 0.05"/>
      </geometry>
      <material name="Blue"/>
    </visual>
  </link>
  <joint name="wide_stereo_frame_joint" type="fixed">
    <parent link="double_stereo_link"/>
    <child link="wide_stereo_link"/>
    <origin rpy="-0.008126433032 0.019046003283 -0.02103398718" xyz="0.049441200823 0.029621964434 0.05947904502"/>
  </joint>
  <link name="wide_stereo_link">
    <inertial>
      <mass value="0.1"/>
      <origin rpy="0 0 0" xyz="0 0 0"/>
      <inertia ixx="0.01" ixy="0" ixz="0" iyy="0.01" iyz="0" izz="0.01"/>
    </inertial>
  </link>
  <joint name="wide_stereo_optical_frame_joint" type="fixed">
    <parent link="wide_stereo_link"/>
    <child link="wide_stereo_optical_frame"/>
    <origin rpy="-1.57079632679 0 -1.57079632679" xyz="0 0 0"/>
  </joint>
  <link name="wide_stereo_optical_frame" type="camera"/>
  <joint name="wide_stereo_gazebo_l_stereo_camera_frame_joint" type="fixed">
    <parent link="wide_stereo_link"/>
    <child link="wide_stereo_gazebo_l_stereo_camera_frame"/>
    <origin rpy="0 0 0" xyz="0 0 0"/>
  </joint>
  <link name="wide_stereo_gazebo_l_stereo_camera_frame">
    <inertial>
      <mass value="0.01"/>
      <origin xyz="0 0 0"/>
      <inertia ixx="0.001" ixy="0" ixz="0" iyy="0.001" iyz="0" izz="0.001"/>
    </inertial>
  </link>
  <joint name="wide_stereo_gazebo_l_stereo_camera_optical_frame_joint" type="fixed">
    <parent link="wide_stereo_gazebo_l_stereo_camera_frame"/>
    <child link="wide_stereo_gazebo_l_stereo_camera_optical_frame"/>
    <origin rpy="-1.57079632679 0 -1.57079632679" xyz="0 0 0"/>
  </joint>
  <link name="wide_stereo_gazebo_l_stereo_camera_optical_frame"/>
  <gazebo reference="wide_stereo_gazebo_l_stereo_camera_frame">
    <sensor:camera name="wide_stereo_gazebo_l_stereo_camera_sensor">
      <imageSize>640 480</imageSize>
      <imageFormat>BAYER_BGGR8</imageFormat>
      <hfov>90</hfov>
      <nearClip>0.1</nearClip>
      <farClip>100</farClip>
      <updateRate>25.0</updateRate>
      <controller:gazebo_ros_depth_camera name="wide_stereo_gazebo_l_stereo_camera_controller" plugin="libgazebo_ros_depth_camera.so">
        <alwaysOn>true</alwaysOn>
        <updateRate>25.0</updateRate>
        <cameraName>wide_stereo/left</cameraName>
        <imageTopicName>image_raw</imageTopicName>
        <cameraInfoTopicName>camera_info</cameraInfoTopicName>
        <frameName>wide_stereo_optical_frame</frameName>
        <hackBaseline>0</hackBaseline>
        <CxPrime>320.5</CxPrime>
        <Cx>320.5</Cx>
        <Cy>240.5</Cy>
        <focalLength>320</focalLength>
        <distortionK1>0.0</distortionK1>
        <distortionK2>0.0</distortionK2>
        <distortionK3>0.0</distortionK3>
        <distortionT1>0.0</distortionT1>
        <distortionT2>0.0</distortionT2>
        <interface:camera name="wide_stereo_gazebo_l_stereo_camera_iface"/>
      </controller:gazebo_ros_depth_camera>
    </sensor:camera>
    <turnGravityOff>true</turnGravityOff>
    <material>PR2/Blue</material>
  </gazebo>
  <joint name="wide_stereo_gazebo_r_stereo_camera_frame_joint" type="fixed">
    <parent link="wide_stereo_gazebo_l_stereo_camera_frame"/>
    <child link="wide_stereo_gazebo_r_stereo_camera_frame"/>
    <origin rpy="0 0 0" xyz="0 -0.09 0"/>
  </joint>
  <link name="wide_stereo_gazebo_r_stereo_camera_frame">
    <inertial>
      <mass value="0.01"/>
      <origin xyz="0 0 0"/>
      <inertia ixx="0.001" ixy="0" ixz="0" iyy="0.001" iyz="0" izz="0.001"/>
    </inertial>
  </link>
  <joint name="wide_stereo_gazebo_r_stereo_camera_optical_frame_joint" type="fixed">
    <parent link="wide_stereo_gazebo_r_stereo_camera_frame"/>
    <child link="wide_stereo_gazebo_r_stereo_camera_optical_frame"/>
    <origin rpy="-1.57079632679 0 -1.57079632679" xyz="0 0 0"/>
  </joint>
  <link name="wide_stereo_gazebo_r_stereo_camera_optical_frame"/>
  <gazebo reference="wide_stereo_gazebo_r_stereo_camera_frame">
    <sensor:camera name="wide_stereo_gazebo_r_stereo_camera_sensor">
      <imageSize>640 480</imageSize>
      <imageFormat>BAYER_BGGR8</imageFormat>
      <hfov>90</hfov>
      <nearClip>0.1</nearClip>
      <farClip>100</farClip>
      <updateRate>25.0</updateRate>
      <controller:gazebo_ros_depth_camera name="wide_stereo_gazebo_r_stereo_camera_controller" plugin="libgazebo_ros_depth_camera.so">
        <alwaysOn>true</alwaysOn>
        <updateRate>25.0</updateRate>
        <cameraName>wide_stereo/right</cameraName>
        <imageTopicName>image_raw</imageTopicName>
        <cameraInfoTopicName>camera_info</cameraInfoTopicName>
        <frameName>wide_stereo_optical_frame</frameName>
        <hackBaseline>0.09</hackBaseline>
        <CxPrime>320.5</CxPrime>
        <Cx>320.5</Cx>
        <Cy>240.5</Cy>
        <focalLength>320</focalLength>
        <distortionK1>0.0</distortionK1>
        <distortionK2>0.0</distortionK2>
        <distortionK3>0.0</distortionK3>
        <distortionT1>0.0</distortionT1>
        <distortionT2>0.0</distortionT2>
        <interface:camera name="wide_stereo_gazebo_r_stereo_camera_iface"/>
      </controller:gazebo_ros_depth_camera>
    </sensor:camera>
    <turnGravityOff>true</turnGravityOff>
    <material>PR2/Blue</material>
  </gazebo>
  <gazebo reference="wide_stereo_link">
    <material value="PR2/Blue"/>
    <turnGravityOff value="true"/>
  </gazebo>
  <gazebo reference="wide_stereo_optical_frame">
    <material value="Gazebo/White"/>
    <turnGravityOff value="true"/>
  </gazebo>
  <joint name="narrow_stereo_frame_joint" type="fixed">
    <parent link="double_stereo_link"/>
    <child link="narrow_stereo_link"/>
    <origin rpy="-0.008253203121 0.006334171924 0.01501917267" xyz="0.050692066301 0.059443706736 0.059877919653"/>
  </joint>
  <link name="narrow_stereo_link">
    <inertial>
      <mass value="0.1"/>
      <origin rpy="0 0 0" xyz="0 0 0"/>
      <inertia ixx="0.01" ixy="0" ixz="0" iyy="0.01" iyz="0" izz="0.01"/>
    </inertial>
  </link>
  <joint name="narrow_stereo_optical_frame_joint" type="fixed">
    <parent link="narrow_stereo_link"/>
    <child link="narrow_stereo_optical_frame"/>
    <origin rpy="-1.57079632679 0 -1.57079632679" xyz="0 0 0"/>
  </joint>
  <link name="narrow_stereo_optical_frame" type="camera"/>
  <joint name="narrow_stereo_gazebo_l_stereo_camera_frame_joint" type="fixed">
    <parent link="narrow_stereo_link"/>
    <child link="narrow_stereo_gazebo_l_stereo_camera_frame"/>
    <origin rpy="0 0 0" xyz="0 0 0"/>
  </joint>
  <link name="narrow_stereo_gazebo_l_stereo_camera_frame">
    <inertial>
      <mass value="0.01"/>
      <origin xyz="0 0 0"/>
      <inertia ixx="0.001" ixy="0" ixz="0" iyy="0.001" iyz="0" izz="0.001"/>
    </inertial>
  </link>
  <joint name="narrow_stereo_gazebo_l_stereo_camera_optical_frame_joint" type="fixed">
    <parent link="narrow_stereo_gazebo_l_stereo_camera_frame"/>
    <child link="narrow_stereo_gazebo_l_stereo_camera_optical_frame"/>
    <origin rpy="-1.57079632679 0 -1.57079632679" xyz="0 0 0"/>
  </joint>
  <link name="narrow_stereo_gazebo_l_stereo_camera_optical_frame"/>
  <gazebo reference="narrow_stereo_gazebo_l_stereo_camera_frame">
    <sensor:camera name="narrow_stereo_gazebo_l_stereo_camera_sensor">
      <imageSize>640 480</imageSize>
      <imageFormat>L8</imageFormat>
      <hfov>45</hfov>
      <nearClip>0.1</nearClip>
      <farClip>100</farClip>
      <updateRate>25.0</updateRate>
      <controller:gazebo_ros_depth_camera name="narrow_stereo_gazebo_l_stereo_camera_controller" plugin="libgazebo_ros_depth_camera.so">
        <alwaysOn>true</alwaysOn>
        <updateRate>25.0</updateRate>
        <cameraName>narrow_stereo/left</cameraName>
        <imageTopicName>image_raw</imageTopicName>
        <cameraInfoTopicName>camera_info</cameraInfoTopicName>
        <frameName>narrow_stereo_optical_frame</frameName>
        <hackBaseline>0</hackBaseline>
        <CxPrime>320.5</CxPrime>
        <Cx>320.5</Cx>
        <Cy>240.5</Cy>
        <focalLength>772.55</focalLength>
        <distortionK1>0.0</distortionK1>
        <distortionK2>0.0</distortionK2>
        <distortionK3>0.0</distortionK3>
        <distortionT1>0.0</distortionT1>
        <distortionT2>0.0</distortionT2>
        <interface:camera name="narrow_stereo_gazebo_l_stereo_camera_iface"/>
      </controller:gazebo_ros_depth_camera>
    </sensor:camera>
    <turnGravityOff>true</turnGravityOff>
    <material>PR2/Blue</material>
  </gazebo>
  <joint name="narrow_stereo_gazebo_r_stereo_camera_frame_joint" type="fixed">
    <parent link="narrow_stereo_gazebo_l_stereo_camera_frame"/>
    <child link="narrow_stereo_gazebo_r_stereo_camera_frame"/>
    <origin rpy="0 0 0" xyz="0 -0.09 0"/>
  </joint>
  <link name="narrow_stereo_gazebo_r_stereo_camera_frame">
    <inertial>
      <mass value="0.01"/>
      <origin xyz="0 0 0"/>
      <inertia ixx="0.001" ixy="0" ixz="0" iyy="0.001" iyz="0" izz="0.001"/>
    </inertial>
  </link>
  <joint name="narrow_stereo_gazebo_r_stereo_camera_optical_frame_joint" type="fixed">
    <parent link="narrow_stereo_gazebo_r_stereo_camera_frame"/>
    <child link="narrow_stereo_gazebo_r_stereo_camera_optical_frame"/>
    <origin rpy="-1.57079632679 0 -1.57079632679" xyz="0 0 0"/>
  </joint>
  <link name="narrow_stereo_gazebo_r_stereo_camera_optical_frame"/>
  <gazebo reference="narrow_stereo_gazebo_r_stereo_camera_frame">
    <sensor:camera name="narrow_stereo_gazebo_r_stereo_camera_sensor">
      <imageSize>640 480</imageSize>
      <imageFormat>L8</imageFormat>
      <hfov>45</hfov>
      <nearClip>0.1</nearClip>
      <farClip>100</farClip>
      <updateRate>25.0</updateRate>
      <controller:gazebo_ros_depth_camera name="narrow_stereo_gazebo_r_stereo_camera_controller" plugin="libgazebo_ros_depth_camera.so">
        <alwaysOn>true</alwaysOn>
        <updateRate>25.0</updateRate>
        <cameraName>narrow_stereo/right</cameraName>
        <imageTopicName>image_raw</imageTopicName>
        <cameraInfoTopicName>camera_info</cameraInfoTopicName>
        <frameName>narrow_stereo_optical_frame</frameName>
        <hackBaseline>0.09</hackBaseline>
        <CxPrime>320.5</CxPrime>
        <Cx>320.5</Cx>
        <Cy>240.5</Cy>
        <focalLength>772.55</focalLength>
        <distortionK1>0.0</distortionK1>
        <distortionK2>0.0</distortionK2>
        <distortionK3>0.0</distortionK3>
        <distortionT1>0.0</distortionT1>
        <distortionT2>0.0</distortionT2>
        <interface:camera name="narrow_stereo_gazebo_r_stereo_camera_iface"/>
      </controller:gazebo_ros_depth_camera>
    </sensor:camera>
    <turnGravityOff>true</turnGravityOff>
    <material>PR2/Blue</material>
  </gazebo>
  <gazebo reference="narrow_stereo_link">
    <material value="PR2/Blue"/>
    <turnGravityOff value="true"/>
  </gazebo>
  <gazebo reference="narrow_stereo_optical_frame">
    <material value="Gazebo/White"/>
    <turnGravityOff value="true"/>
  </gazebo>
  <gazebo reference="double_stereo_double_stereo_link">
    <material value="PR2/Blue"/>
  </gazebo>
  <gazebo reference="sensor_mount_sensor_link">
    <material value="PR2/Blue"/>
  </gazebo>
  <joint name="projector_wg6802418_frame_joint" type="fixed">
    <parent link="head_plate_frame"/>
    <child link="projector_wg6802418_frame"/>
    <origin rpy="0 0 0" xyz="0 0.11 0.0546"/>
  </joint>
  <link name="projector_wg6802418_frame">
    <inertial>
      <mass value="0.01"/>
      <origin rpy="0 0 0" xyz="0 0 0"/>
      <inertia ixx="0.001" ixy="0" ixz="0" iyy="0.001" iyz="0" izz="0.001"/>
    </inertial>
  </link>
  <joint name="projector_wg6802418_child_frame_joint" type="fixed">
    <parent link="projector_wg6802418_frame"/>
    <child link="projector_wg6802418_child_frame"/>
    <origin rpy="0 -1.57079632679 0" xyz="0 0 0"/>
  </joint>
  <link name="projector_wg6802418_child_frame">
    <inertial>
      <mass value="0.01"/>
      <origin rpy="0 0 0" xyz="0 0 0"/>
      <inertia ixx="0.001" ixy="0" ixz="0" iyy="0.001" iyz="0" izz="0.001"/>
    </inertial>
  </link>
  <gazebo reference="projector_wg6802418_child_frame">
    <projector name="projector_wg6802418_projector_wg6802418">


      <pose>0 0 0 0 -1.5707 0</pose>


      <texture>stereo_projection_pattern_high_res_red.png</texture>


      <fov>0.959931088597</fov>


      <near_clip>0.1</near_clip>


      <far_clip>10</far_clip>


    </projector>
  </gazebo>
  <gazebo>
    <controller:gazebo_ros_projector name="projector_wg6802418_controller" plugin="libgazebo_ros_projector.so">
      <projector>projector_wg6802418_child_frame/projector_wg6802418_projector_wg6802418</projector>
      <alwaysOn>true</alwaysOn>
      <updateRate>15.0</updateRate>
      <textureName>stereo_projection_pattern_high_res_red.png</textureName>
      <filterTextureName>stereo_projection_pattern_filter.png</filterTextureName>
      <textureTopicName>projector_wg6802418_controller/image</textureTopicName>
      <projectorTopicName>projector_wg6802418_controller/projector</projectorTopicName>
    </controller:gazebo_ros_projector>
  </gazebo>
  <joint name="head_mount_joint" type="fixed">
    <parent link="head_plate_frame"/>
    <child link="head_mount_link"/>
    <origin rpy="0 0 0" xyz="-0.138 0 0.091"/>
  </joint>
  <link name="head_mount_link">
    <inertial>
      <mass value="0.1"/>
      <origin rpy="0 0 0" xyz="0 0 0"/>
      <inertia ixx="0.01" ixy="0" ixz="0" iyy="0.01" iyz="0" izz="0.01"/>
    </inertial>
    <visual>
      <origin rpy="0 0 0" xyz="0 0 0"/>
      <geometry>
        <mesh filename="package://pr2_description/meshes/sensors/kinect_prosilica_v0/115x100_swept_back--coarse.STL" scale="0.001 0.001 0.001"/>
      </geometry>
      <material name="gray">
        <color rgba="0.5 0.5 0.5 1"/>
      </material>
    </visual>
    <collision>
      <origin rpy="0 0 0" xyz="0 0 0"/>
      <geometry>
        <sphere radius="0.0005"/>
      </geometry>
    </collision>
  </link>
  <joint name="head_mount_kinect_ir_joint" type="fixed">
    <parent link="head_mount_link"/>
    <child link="head_mount_kinect_ir_link"/>
    <origin rpy="0 0 0" xyz="-0.032267 0.0125 0.136453"/>
  </joint>
  <link name="head_mount_kinect_ir_link">
    <inertial>
      <mass value="0.1"/>
      <origin rpy="0 0 0" xyz="0 0 0"/>
      <inertia ixx="0.01" ixy="0" ixz="0" iyy="0.01" iyz="0" izz="0.01"/>
    </inertial>
    <visual>
      <origin rpy="0 0 0" xyz="0 0 0"/>
      <geometry>
        <sphere radius="0.0005"/>
      </geometry>
    </visual>
    <collision>
      <origin rpy="0 0 0" xyz="0 0 0"/>
      <geometry>
        <sphere radius="0.0005"/>
      </geometry>
    </collision>
  </link>
  <joint name="head_mount_kinect_ir_optical_frame_joint" type="fixed">
    <parent link="head_mount_kinect_ir_link"/>
    <child link="head_mount_kinect_ir_optical_frame"/>
    <origin rpy="-1.57079632679 0 -1.57079632679" xyz="0 0 0"/>
  </joint>
  <link name="head_mount_kinect_ir_optical_frame"/>
  <gazebo reference="head_mount_kinect_ir_link">
    <sensor:camera name="head_mount_ir_sensor">
      <imageFormat>L8</imageFormat>
      <imageSize>640 480</imageSize>
      <hfov>57</hfov>
      <nearClip>0.01</nearClip>
      <farClip>5</farClip>
      <updateRate>1.0</updateRate>
      <baseline>0.2</baseline>
      <controller:gazebo_ros_openni_kinect name="head_mount_kinect_ir_link_controller" plugin="libgazebo_ros_openni_kinect.so">
        <alwaysOn>true</alwaysOn>
        <updateRate>1.0</updateRate>
        <cameraName>head_mount_kinect_ir</cameraName>
        <imageTopicName>/head_mount_kinect/depth/image_raw</imageTopicName>
        <cameraInfoTopicName>/head_mount_kinect/depth/camera_info</cameraInfoTopicName>
        <depthImageTopicName>/head_mount_kinect/depth/image_raw</depthImageTopicName>
        <depthImageInfoTopicName>/head_mount_kinect/depth/camera_info</depthImageInfoTopicName>
        <pointCloudTopicName>/head_mount_kinect/depth/points</pointCloudTopicName>
        <frameName>head_mount_kinect_ir_optical_frame</frameName>
        <pointCloudCutoff>0.5</pointCloudCutoff>
        <distortionK1>0.00000001</distortionK1>
        <distortionK2>0.00000001</distortionK2>
        <distortionK3>0.00000001</distortionK3>
        <distortionT1>0.00000001</distortionT1>
        <distortionT2>0.00000001</distortionT2>
      </controller:gazebo_ros_openni_kinect>
    </sensor:camera>
    <material value="Gazebo/Red"/>
  </gazebo>
  <joint name="head_mount_kinect_rgb_joint" type="fixed">
    <parent link="head_mount_kinect_ir_link"/>
    <child link="head_mount_kinect_rgb_link"/>
    <origin rpy="0.004135698602 -0.011418438943 0.00154585264" xyz="-0.008114967638 -0.023055241899 0.002703111055"/>
  </joint>
  <link name="head_mount_kinect_rgb_link">
    <inertial>
      <mass value="0.1"/>
      <origin rpy="0 0 0" xyz="0 0 0"/>
      <inertia ixx="0.01" ixy="0" ixz="0" iyy="0.01" iyz="0" izz="0.01"/>
    </inertial>
    <visual>
      <origin rpy="0 0 0" xyz="0 0 0"/>
      <geometry>
        <sphere radius="0.0005"/>
      </geometry>
    </visual>
    <collision>
      <origin rpy="0 0 0" xyz="0 0 0"/>
      <geometry>
        <sphere radius="0.0005"/>
      </geometry>
    </collision>
  </link>
  <joint name="head_mount_kinect_rgb_optical_frame_joint" type="fixed">
    <parent link="head_mount_kinect_rgb_link"/>
    <child link="head_mount_kinect_rgb_optical_frame"/>
    <origin rpy="-1.57079632679 0 -1.57079632679" xyz="0 0 0"/>
  </joint>
  <link name="head_mount_kinect_rgb_optical_frame"/>
  <gazebo reference="head_mount_kinect_rgb_link">
    <sensor:camera name="head_mount_rgb_sensor">
      <imageFormat>R8G8B8</imageFormat>
      <imageSize>640 480</imageSize>
      <hfov>57</hfov>
      <nearClip>0.01</nearClip>
      <farClip>5</farClip>
      <updateRate>1.0</updateRate>
      <baseline>0.2</baseline>
      <controller:gazebo_ros_openni_kinect name="head_mount_kinect_rgb_link_controller" plugin="libgazebo_ros_openni_kinect.so">
        <alwaysOn>true</alwaysOn>
        <updateRate>1.0</updateRate>
        <cameraName>head_mount_kinect_rgb</cameraName>
        <imageTopicName>/head_mount_kinect/rgb/image_raw</imageTopicName>
        <cameraInfoTopicName>/head_mount_kinect/rgb/camera_info</cameraInfoTopicName>
        <pointCloudTopicName>/head_mount_kinect/depth_registered/points</pointCloudTopicName>
        <frameName>head_mount_kinect_rgb_optical_frame</frameName>
        <pointCloudCutoff>0.5</pointCloudCutoff>
        <distortionK1>0.00000001</distortionK1>
        <distortionK2>0.00000001</distortionK2>
        <distortionK3>0.00000001</distortionK3>
        <distortionT1>0.00000001</distortionT1>
        <distortionT2>0.00000001</distortionT2>
      </controller:gazebo_ros_openni_kinect>
    </sensor:camera>
    <material value="Gazebo/Red"/>
  </gazebo>
  <joint name="head_mount_prosilica_joint" type="fixed">
    <parent link="head_mount_link"/>
    <child link="head_mount_prosilica_link"/>
    <origin rpy="0 0 0" xyz="-0.046457 0.0125 0.088921"/>
  </joint>
  <link name="head_mount_prosilica_link">
    <inertial>
      <mass value="0.1"/>
      <origin rpy="0 0 0" xyz="0 0 0"/>
      <inertia ixx="0.01" ixy="0" ixz="0" iyy="0.01" iyz="0" izz="0.01"/>
    </inertial>
    <visual>
      <origin rpy="0 0 0" xyz="0 0 0"/>
      <geometry>
        <sphere radius="0.0005"/>
      </geometry>
    </visual>
    <collision>
      <origin rpy="0 0 0" xyz="0 0 0"/>
      <geometry>
        <sphere radius="0.0005"/>
      </geometry>
    </collision>
  </link>
  <joint name="head_mount_prosilica_optical_frame_joint" type="fixed">
    <parent link="head_mount_prosilica_link"/>
    <child link="head_mount_prosilica_optical_frame"/>
    <origin rpy="-1.57079632679 0 -1.57079632679" xyz="0 0 0"/>
  </joint>
  <link name="head_mount_prosilica_optical_frame"/>
  <gazebo reference="head_mount_prosilica_link">
    <sensor:camera name="head_mount_prosilica_link_sensor">
      <imageFormat>R8G8B8</imageFormat>
      <imageSize>320 240</imageSize>
      <hfov>64.2</hfov>
      <nearClip>0.1</nearClip>
      <farClip>100</farClip>
      <updateRate>1.0</updateRate>
      <controller:gazebo_ros_prosilica name="head_mount_prosilica_link_controller" plugin="libgazebo_ros_prosilica.so">
        <alwaysOn>true</alwaysOn>
        <updateRate>1.0</updateRate>
        <cameraName>prosilica_camera_1mb</cameraName>
        <imageTopicName>image_raw</imageTopicName>
        <cameraInfoTopicName>camera_info</cameraInfoTopicName>
        <pollServiceName>request_image</pollServiceName>
        <frameName>head_mount_prosilica_optical_frame</frameName>
        <distortionK1>0.0</distortionK1>
        <distortionK2>0.0</distortionK2>
        <distortionK3>0.0</distortionK3>
        <distortionT1>0.0</distortionT1>
        <distortionT2>0.0</distortionT2>
      </controller:gazebo_ros_prosilica>
    </sensor:camera>
    <sensor:camera name="head_mount_prosilica_link_sim_pcd_sensor">
      <imageFormat>R8G8B8</imageFormat>
      <imageSize>320 240</imageSize>
      <hfov>64.2</hfov>
      <nearClip>0.1</nearClip>
      <farClip>100</farClip>
      <updateRate>1.0</updateRate>
      <controller:gazebo_ros_openni_kinect name="head_mount_prosilica_link_sim_pcd_controller" plugin="libgazebo_ros_openni_kinect.so">
        <alwaysOn>true</alwaysOn>
        <updateRate>1.0</updateRate>
        <cameraName>prosilica_camera_1mb_sim_pcd</cameraName>
        <imageTopicName>image_raw</imageTopicName>
        <cameraInfoTopicName>camera_info</cameraInfoTopicName>
        <frameName>head_mount_prosilica_optical_frame</frameName>
      </controller:gazebo_ros_openni_kinect>
    </sensor:camera>
    <material value="Gazebo/Red"/>
  </gazebo>
  <joint name="laser_tilt_mount_joint" type="revolute">
    <parent link="torso_lift_link"/>
    <child link="laser_tilt_mount_link"/>
    <origin rpy="0 0 0" xyz="0.09893 0 0.227"/>
    <axis xyz="0 1 0"/>
    <limit effort="0.65" lower="-0.7854" upper="1.48353" velocity="10"/>
    <dynamics damping="0.008"/>
    <safety_controller k_position="100" k_velocity="0.05" soft_lower_limit="-0.7354" soft_upper_limit="1.43353"/>
    <calibration falling="0.0034904978"/>
  </joint>
  <link name="laser_tilt_mount_link">
    <inertial>
      <mass value="0.591"/>
      <origin rpy="0 0 0" xyz="-0.001136 0.00167 -0.00713"/>
      <inertia ixx="0.001195273" ixy="0.000023087" ixz="0.000037467" iyy="0.001083956" iyz="0.000034906" izz="0.000795014"/>
    </inertial>
    <visual>
      <origin rpy="0 0 0" xyz="0 0 0"/>
      <geometry>
        <mesh filename="package://pr2_description/meshes/tilting_laser_v0/tilting_hokuyo.dae"/>
      </geometry>
      <material name="Red"/>
    </visual>
    <collision>
      <origin rpy="0 0 0" xyz="0 0 0"/>
      <geometry>
        <mesh filename="package://pr2_description/meshes/tilting_laser_v0/tilting_hokuyo_L.stl"/>
      </geometry>
    </collision>
  </link>
  <joint name="laser_tilt_joint" type="fixed">
    <parent link="laser_tilt_mount_link"/>
    <child link="laser_tilt_link"/>
    <origin rpy="0 0 -0.013556390532" xyz="0 0 0.04545849653"/>
    <axis xyz="0 1 0"/>
  </joint>
  <link name="laser_tilt_link" type="laser">
    <inertial>
      <mass value="0.001"/>
      <origin rpy="0 0 0" xyz="0 0 0"/>
      <inertia ixx="0.0001" ixy="0" ixz="0" iyy="0.000001" iyz="0" izz="0.0001"/>
    </inertial>
  </link>
  <gazebo reference="laser_tilt_link">
    <sensor:ray name="laser_tilt">
      <rayCount>640</rayCount>
      <rangeCount>640</rangeCount>
      <laserCount>1</laserCount>
      <origin>0.0 0.0 0.0</origin>
      <displayRays>false</displayRays>
      <minAngle>-79.9999999086</minAngle>
      <maxAngle>79.9999999086</maxAngle>
      <minRange>0.08</minRange>
      <maxRange>10.0</maxRange>
      <resRange>0.01</resRange>
      <updateRate>40</updateRate>
      <controller:gazebo_ros_laser name="gazebo_ros_laser_tilt_controller" plugin="libgazebo_ros_laser.so">
        <gaussianNoise>0.005</gaussianNoise>
        <alwaysOn>true</alwaysOn>
        <updateRate>40</updateRate>
        <topicName>tilt_scan</topicName>
        <frameName>laser_tilt_link</frameName>
        <interface:laser name="gazebo_ros_laser_tilt_iface"/>
      </controller:gazebo_ros_laser>
    </sensor:ray>
  </gazebo>
  <gazebo reference="laser_tilt_mount_link"/>
  <transmission name="laser_tilt_mount_trans" type="pr2_mechanism_model/SimpleTransmission">
    <actuator name="laser_tilt_mount_motor"/>
    <joint name="laser_tilt_mount_joint"/>
    <mechanicalReduction>-6.05</mechanicalReduction>
  </transmission>
  <joint name="r_shoulder_pan_joint" type="revolute">
    <parent link="torso_lift_link"/>
    <child link="r_shoulder_pan_link"/>
    <origin rpy="0 0 0" xyz="0 -0.188 0"/>
    <axis xyz="0 0 1"/>
    <limit effort="30" lower="-2.2853981634" upper="0.714601836603" velocity="2.088"/>
    <dynamics damping="10.0"/>
    <safety_controller k_position="100" k_velocity="10" soft_lower_limit="-2.1353981634" soft_upper_limit="0.564601836603"/>
    <calibration rising="-0.794099973123"/>
  </joint>
  <link name="r_shoulder_pan_link">
    <inertial>
      <mass value="25.799322"/>
      <origin rpy="0 0 0" xyz="-0.001201 0.024513 -0.098231"/>
      <inertia ixx="0.86617914248" ixy="-0.06086507933" ixz="-0.12118061183" iyy="0.87421714893" iyz="-0.05886609911" izz="0.27353821674"/>
    </inertial>
    <visual>
      <origin rpy="0 0 0" xyz="0 0 0"/>
      <geometry>
        <mesh filename="package://pr2_description/meshes/shoulder_v0/shoulder_pan.dae"/>
      </geometry>
      <material name="Blue"/>
    </visual>
    <collision>
      <origin rpy="0 0 0" xyz="0 0 0"/>
      <geometry>
        <mesh filename="package://pr2_description/meshes/shoulder_v0/shoulder_pan.stl"/>
      </geometry>
    </collision>
  </link>
  <joint name="r_shoulder_lift_joint" type="revolute">
    <parent link="r_shoulder_pan_link"/>
    <child link="r_shoulder_lift_link"/>
    <origin rpy="0 0 0" xyz="0.1 0 0"/>
    <axis xyz="0 1 0"/>
    <limit effort="30" lower="-0.5236" upper="1.3963" velocity="2.082"/>
    <dynamics damping="10.0"/>
    <safety_controller k_position="100" k_velocity="10" soft_lower_limit="-0.3536" soft_upper_limit="1.2963"/>
    <calibration falling="-0.010516814386"/>
  </joint>
  <link name="r_shoulder_lift_link">
    <inertial>
      <mass value="2.74988"/>
      <origin rpy="0 0 0" xyz="0.02195 -0.02664 -0.03127"/>
      <inertia ixx="0.02105584615" ixy="0.00496704022" ixz="-0.00194808955" iyy="0.02127223737" iyz="0.0011042549" izz="0.01975753814"/>
    </inertial>
    <visual>
      <origin rpy="0 0 0" xyz="0 0 0"/>
      <geometry>
        <mesh filename="package://pr2_description/meshes/shoulder_v0/shoulder_lift.dae"/>
      </geometry>
      <material name="Grey"/>
    </visual>
    <collision>
      <origin rpy="0 0 0" xyz="0 0 0"/>
      <geometry>
        <mesh filename="package://pr2_description/meshes/shoulder_v0/shoulder_lift.stl"/>
      </geometry>
    </collision>
  </link>
  <joint name="r_upper_arm_roll_joint" type="revolute">
    <parent link="r_shoulder_lift_link"/>
    <child link="r_upper_arm_roll_link"/>
    <origin rpy="0 0 0" xyz="0 0 0"/>
    <axis xyz="1 0 0"/>
    <limit effort="30" lower="-3.9" upper="0.8" velocity="3.27"/>
    <dynamics damping="0.1"/>
    <safety_controller k_position="100" k_velocity="2" soft_lower_limit="-3.75" soft_upper_limit="0.65"/>
    <calibration rising="-1.555959398147"/>
  </joint>
  <link name="r_upper_arm_roll_link">
    <inertial>
      <mass value="0.1"/>
      <origin rpy="0 0 0" xyz="0 0 0"/>
      <inertia ixx="0.01" ixy="0" ixz="0" iyy="0.01" iyz="0" izz="0.01"/>
    </inertial>
    <visual>
      <origin rpy="0 0 0" xyz="0 0 0"/>
      <geometry>
        <mesh filename="package://pr2_description/meshes/shoulder_v0/upper_arm_roll.stl"/>
      </geometry>
      <material name="RollLinks"/>
    </visual>
    <collision>
      <origin rpy="0 0 0" xyz="0 0 0"/>
      <geometry>
        <mesh filename="package://pr2_description/meshes/shoulder_v0/upper_arm_roll_L.stl"/>
      </geometry>
    </collision>
  </link>
  <gazebo reference="r_upper_arm_roll_link">
    <material value="PR2/RollLinks"/>
    <turnGravityOff>true</turnGravityOff>
  </gazebo>
  <gazebo reference="r_upper_arm_roll_joint">
    <stopKd value="1.0"/>
    <stopKp value="1000000.0"/>
    <fudgeFactor value="0.5"/>
  </gazebo>
  <transmission name="r_upper_arm_roll_trans" type="pr2_mechanism_model/SimpleTransmission">
    <actuator name="r_upper_arm_roll_motor"/>
    <joint name="r_upper_arm_roll_joint"/>
    <mechanicalReduction>32.6525111499</mechanicalReduction>
  </transmission>
  <gazebo reference="r_shoulder_pan_link">
    <turnGravityOff>true</turnGravityOff>
  </gazebo>
  <gazebo reference="r_shoulder_pan_joint">
    <stopKd value="1.0"/>
    <stopKp value="1000000.0"/>
  </gazebo>
  <gazebo reference="r_shoulder_lift_link">
    <turnGravityOff>true</turnGravityOff>
  </gazebo>
  <gazebo reference="r_shoulder_lift_joint">
    <stopKd value="1.0"/>
    <stopKp value="1000000.0"/>
  </gazebo>
  <transmission name="r_shoulder_pan_trans" type="pr2_mechanism_model/SimpleTransmission">
    <actuator name="r_shoulder_pan_motor"/>
    <joint name="r_shoulder_pan_joint"/>
    <mechanicalReduction>63.1552452977</mechanicalReduction>
    <compensator k_belt="4000.0" kd_motor="15.0" lambda_combined="0.0" lambda_joint="40.0" lambda_motor="40.0" mass_motor="0.05"/>
  </transmission>
  <transmission name="r_shoulder_lift_trans" type="pr2_mechanism_model/SimpleTransmission">
    <actuator name="r_shoulder_lift_motor"/>
    <joint name="r_shoulder_lift_joint"/>
    <mechanicalReduction>61.8948225713</mechanicalReduction>
    <compensator k_belt="4000.0" kd_motor="10.0" lambda_combined="0.0" lambda_joint="60.0" lambda_motor="60.0" mass_motor="0.05"/>
  </transmission>
  <joint name="r_upper_arm_joint" type="fixed">
    <parent link="r_upper_arm_roll_link"/>
    <child link="r_upper_arm_link"/>
    <origin rpy="0 0 0" xyz="0 0 0"/>
  </joint>
  <link name="r_upper_arm_link">
    <inertial>
      <mass value="6.01769"/>
      <origin xyz="0.21398 -0.01621 -0.0002"/>
      <inertia ixx="0.01537748957" ixy="0.00375711247" ixz="-0.00070852914" iyy="0.0747367044" iyz="-0.0001793645" izz="0.07608763307"/>
    </inertial>
    <visual>
      <origin rpy="0 0 0" xyz="0 0 0"/>
      <geometry>
        <mesh filename="package://pr2_description/meshes/upper_arm_v0/upper_arm.dae"/>
      </geometry>
      <material name="Green"/>
    </visual>
    <collision>
      <origin rpy="0 0 0" xyz="0 0 0"/>
      <geometry>
        <mesh filename="package://pr2_description/meshes/upper_arm_v0/upper_arm.stl"/>
      </geometry>
    </collision>
  </link>
  <gazebo reference="r_upper_arm_link">
    <turnGravityOff>true</turnGravityOff>
  </gazebo>
  <joint name="r_forearm_roll_joint" type="continuous">
    <parent link="r_elbow_flex_link"/>
    <child link="r_forearm_roll_link"/>
    <origin rpy="0 0 0" xyz="0 0 0"/>
    <axis xyz="1 0 0"/>
    <limit effort="30" velocity="3.6"/>
    <dynamics damping="0.1"/>
    <safety_controller k_velocity="1"/>
    <calibration rising="-0.011467533262"/>
  </joint>
  <link name="r_forearm_roll_link">
    <inertial>
      <mass value="0.1"/>
      <origin xyz="0 0 0"/>
      <inertia ixx="0.01" ixy="0" ixz="0" iyy="0.01" iyz="0" izz="0.01"/>
    </inertial>
    <visual>
      <origin rpy="0 0 0" xyz="0 0 0"/>
      <geometry>
        <mesh filename="package://pr2_description/meshes/upper_arm_v0/forearm_roll.stl"/>
      </geometry>
      <material name="RollLinks"/>
    </visual>
    <collision>
      <origin rpy="0 0 0" xyz="0 0 0"/>
      <geometry>
        <mesh filename="package://pr2_description/meshes/upper_arm_v0/forearm_roll_L.stl"/>
      </geometry>
    </collision>
  </link>
  <gazebo reference="r_forearm_roll_link">
    <material value="PR2/RollLinks"/>
    <turnGravityOff>true</turnGravityOff>
  </gazebo>
  <gazebo reference="r_forearm_roll_joint">
    <fudgeFactor value="0.5"/>
  </gazebo>
  <transmission name="r_forearm_roll_trans" type="pr2_mechanism_model/SimpleTransmission">
    <actuator name="r_forearm_roll_motor"/>
    <joint name="r_forearm_roll_joint"/>
    <mechanicalReduction>-90.5142857143</mechanicalReduction>
  </transmission>
  <joint name="r_elbow_flex_joint" type="revolute">
    <parent link="r_upper_arm_link"/>
    <child link="r_elbow_flex_link"/>
    <origin rpy="0 0 0" xyz="0.4 0 0"/>
    <axis xyz="0 1 0"/>
    <limit effort="30" lower="-2.3213" upper="0" velocity="3.3"/>
    <dynamics damping="1.0"/>
    <safety_controller k_position="100" k_velocity="3" soft_lower_limit="-2.1213" soft_upper_limit="-0.15"/>
    <calibration falling="-1.1606"/>
  </joint>
  <link name="r_elbow_flex_link">
    <inertial>
      <mass value="1.90327"/>
      <origin xyz="0.01014 0.00032 -0.01211"/>
      <inertia ixx="0.00346541989" ixy="0.00004066825" ixz="0.00043171614" iyy="0.00441606455" iyz="-0.00003968914" izz="0.00359156824"/>
    </inertial>
    <visual>
      <origin rpy="0 0 0" xyz="0 0 0"/>
      <geometry>
        <mesh filename="package://pr2_description/meshes/upper_arm_v0/elbow_flex.dae"/>
      </geometry>
      <material name="Grey"/>
    </visual>
    <collision>
      <origin rpy="0 0 0" xyz="0 0 0"/>
      <geometry>
        <mesh filename="package://pr2_description/meshes/upper_arm_v0/elbow_flex.stl"/>
      </geometry>
    </collision>
  </link>
  <gazebo reference="r_elbow_flex_joint">
    <initial_joint_position>-1.0</initial_joint_position>
  </gazebo>
  <gazebo reference="r_elbow_flex_link">
    <turnGravityOff>true</turnGravityOff>
  </gazebo>
  <gazebo reference="r_elbow_flex_joint">
    <stopKd value="1.0"/>
    <stopKp value="1000000.0"/>
  </gazebo>
  <transmission name="r_elbow_flex_trans" type="pr2_mechanism_model/SimpleTransmission">
    <actuator name="r_elbow_flex_motor"/>
    <joint name="r_elbow_flex_joint"/>
    <mechanicalReduction>-36.167452007</mechanicalReduction>
  </transmission>
  <joint name="r_forearm_joint" type="fixed">
    <parent link="r_forearm_roll_link"/>
    <child link="r_forearm_link"/>
    <origin rpy="0 0 0" xyz="0 0 0"/>
  </joint>
  <link name="r_forearm_link">
    <inertial>
      <mass value="2.57968"/>
      <origin xyz="0.18791 -0.00017 -0.00912"/>
      <inertia ixx="0.00364857222" ixy="0.00005215877" ixz="0.00071534842" iyy="0.01507736897" iyz="-0.0000131077" izz="0.01659310749"/>
    </inertial>
    <visual>
      <origin rpy="0 0 0" xyz="0 0 0"/>
      <geometry>
        <mesh filename="package://pr2_description/meshes/forearm_v0/forearm.dae"/>
      </geometry>
      <material name="Grey"/>
    </visual>
    <collision>
      <origin rpy="0 0 0" xyz="0 0 0"/>
      <geometry>
        <mesh filename="package://pr2_description/meshes/forearm_v0/forearm.stl"/>
      </geometry>
    </collision>
  </link>
  <joint name="r_wrist_flex_joint" type="revolute">
    <parent link="r_forearm_link"/>
    <child link="r_wrist_flex_link"/>
    <origin rpy="0 0 0" xyz="0.321 0 0"/>
    <axis xyz="0 1 0"/>
    <limit effort="10" lower="-2.18" upper="0" velocity="3.078"/>
    <dynamics damping="0.1"/>
    <safety_controller k_position="20" k_velocity="4" soft_lower_limit="-2" soft_upper_limit="-0.1"/>
    <calibration falling="-0.510313841655"/>
  </joint>
  <link name="r_wrist_flex_link">
    <inertial>
      <mass value="0.61402"/>
      <origin xyz="-0.00157 0 -0.00075"/>
      <inertia ixx="0.00065165722" ixy="0.00000028864" ixz="0.00000303477" iyy="0.00019824443" iyz="-0.00000022645" izz="0.00064450498"/>
    </inertial>
    <visual>
      <origin rpy="0 0 0" xyz="0 0 0"/>
      <geometry>
        <mesh filename="package://pr2_description/meshes/forearm_v0/wrist_flex.dae"/>
      </geometry>
      <material name="Grey"/>
    </visual>
    <collision>
      <origin rpy="0 0 0" xyz="0 0 0"/>
      <geometry>
        <mesh filename="package://pr2_description/meshes/forearm_v0/wrist_flex.stl"/>
      </geometry>
    </collision>
  </link>
  <joint name="r_wrist_roll_joint" type="continuous">
    <parent link="r_wrist_flex_link"/>
    <child link="r_wrist_roll_link"/>
    <origin rpy="0 0 0" xyz="0 0 0"/>
    <axis xyz="1 0 0"/>
    <limit effort="10" velocity="3.6"/>
    <dynamics damping="0.1"/>
    <safety_controller k_velocity="2"/>
    <calibration rising="-1.670942507043"/>
  </joint>
  <link name="r_wrist_roll_link">
    <inertial>
      <mass value="0.1"/>
      <origin xyz="0 0 0"/>
      <inertia ixx="0.01" ixy="0" ixz="0" iyy="0.01" iyz="0" izz="0.01"/>
    </inertial>
    <visual>
      <origin rpy="0 0 0" xyz="0 0 0"/>
      <geometry>
        <mesh filename="package://pr2_description/meshes/forearm_v0/wrist_roll.stl"/>
      </geometry>
      <material name="RollLinks"/>
    </visual>
    <collision>
      <origin rpy="0 0 0" xyz="0 0 0"/>
      <geometry>
        <mesh filename="package://pr2_description/meshes/forearm_v0/wrist_roll_L.stl"/>
      </geometry>
    </collision>
  </link>
  <gazebo reference="r_forearm_link">
    <turnGravityOff>true</turnGravityOff>
  </gazebo>
  <gazebo reference="r_wrist_flex_link">
    <turnGravityOff>true</turnGravityOff>
  </gazebo>
  <gazebo reference="r_wrist_flex_joint">
    <stopKd value="1.0"/>
    <stopKp value="1000000.0"/>
  </gazebo>
  <gazebo reference="r_wrist_roll_link">
    <turnGravityOff>true</turnGravityOff>
    <material value="PR2/RollLinks"/>
  </gazebo>
  <gazebo reference="r_wrist_roll_joint">
    <fudgeFactor value="0.5"/>
  </gazebo>
  <transmission name="r_wrist_trans" type="pr2_mechanism_model/WristTransmission">
    <rightActuator mechanicalReduction="60.1714285714" name="r_wrist_r_motor"/>
    <leftActuator mechanicalReduction="60.1714285714" name="r_wrist_l_motor"/>
    <flexJoint mechanicalReduction="-1.0" name="r_wrist_flex_joint"/>
    <rollJoint mechanicalReduction="1.0" name="r_wrist_roll_joint" offset="1.6580627893946132"/>
  </transmission>
  <joint name="r_gripper_palm_joint" type="fixed">
    <parent link="r_wrist_roll_link"/>
    <child link="r_gripper_palm_link"/>
    <origin rpy="0 0 0" xyz="0 0 0"/>
  </joint>
  <link name="r_gripper_palm_link">
    <inertial>
      <mass value="0.58007"/>
      <origin rpy="0 0 0" xyz="0.06623 0.00053 -0.00119"/>
      <inertia ixx="0.00035223921" ixy="-0.00001580476" ixz="-0.0000009175" iyy="0.00067741312" iyz="-0.00000059554" izz="0.00086563316"/>
    </inertial>
    <visual>
      <origin rpy="0 0 0" xyz="0 0 0"/>
      <geometry>
        <mesh filename="package://pr2_description/meshes/gripper_v0/gripper_palm.dae"/>
      </geometry>
      <material name="Red"/>
    </visual>
    <collision>
      <origin rpy="0 0 0" xyz="0 0 0"/>
      <geometry>
        <mesh filename="package://pr2_description/meshes/gripper_v0/gripper_palm.stl"/>
      </geometry>
    </collision>
  </link>
  <joint name="r_gripper_led_joint" type="fixed">
    <parent link="r_gripper_palm_link"/>
    <child link="r_gripper_led_frame"/>
    <origin rpy="0 0 0" xyz="0.0513 0 0.0244"/>
  </joint>
  <link name="r_gripper_led_frame"/>
  <joint name="r_gripper_motor_accelerometer_joint" type="fixed">
    <parent link="r_gripper_palm_link"/>
    <child link="r_gripper_motor_accelerometer_link"/>
    <origin rpy="0 0 0" xyz="0 0 0"/>
  </joint>
  <link name="r_gripper_motor_accelerometer_link">
    <inertial>
      <mass value="0.001"/>
      <origin rpy="0 0 0" xyz="0 0 0"/>
      <inertia ixx="0.001" ixy="0" ixz="0" iyy="0.001" iyz="0" izz="0.001"/>
    </inertial>
    <visual>
      <origin rpy="0 0 0" xyz="0 0 0"/>
      <geometry>
        <box size="0.001 0.001 0.001"/>
      </geometry>
    </visual>
    <collision>
      <origin rpy="0 0 0" xyz="0 0 0"/>
      <geometry>
        <box size="0.001 0.001 0.001"/>
      </geometry>
    </collision>
  </link>
  <joint name="r_gripper_tool_joint" type="fixed">
    <parent link="r_gripper_palm_link"/>
    <child link="r_gripper_tool_frame"/>
    <origin rpy="0 0 0" xyz="0.18 0 0"/>
  </joint>
  <link name="r_gripper_tool_frame"/>
  <link name="r_gripper_motor_slider_link">
    <inertial>
      <mass value="0.01"/>
      <origin rpy="0 0 0" xyz="0 0 0"/>
      <inertia ixx="0.001" ixy="0" ixz="0" iyy="0.001" iyz="0" izz="0.001"/>
    </inertial>
  </link>
  <joint name="r_gripper_motor_slider_joint" type="prismatic">
    <parent link="r_gripper_palm_link"/>
    <child link="r_gripper_motor_slider_link"/>
    <origin rpy="0 0 0" xyz="0.16828 0 0"/>
    <axis xyz="1 0 0"/>
    <limit effort="1000" lower="-0.1" upper="0.1" velocity="0.2"/>
  </joint>
  <link name="r_gripper_motor_screw_link">
    <inertial>
      <mass value="0.01"/>
      <origin rpy="0 0 0" xyz="0 0 0"/>
      <inertia ixx="0.0001" ixy="0" ixz="0" iyy="0.0001" iyz="0" izz="0.0001"/>
    </inertial>
  </link>
  <joint name="r_gripper_motor_screw_joint" type="continuous">
    <parent link="r_gripper_motor_slider_link"/>
    <child link="r_gripper_motor_screw_link"/>
    <origin rpy="0 0 0" xyz="0 0 0"/>
    <axis xyz="0 1 0"/>
    <dynamics damping="0.0001"/>
  </joint>
  <joint name="r_gripper_l_finger_joint" type="revolute">
    <parent link="r_gripper_palm_link"/>
    <child link="r_gripper_l_finger_link"/>
    <origin rpy="0 0 0" xyz="0.07691 0.01 0"/>
    <axis xyz="0 0 1"/>
    <limit effort="1000" lower="0" upper="0.548" velocity="0.5"/>
    <dynamics damping="0.02"/>
  </joint>
  <link name="r_gripper_l_finger_link">
    <inertial>
      <mass value="0.17126"/>
      <origin rpy="0 0 0" xyz="0.03598 0.0173 -0.00164"/>
      <inertia ixx="0.00007756198" ixy="0.00000149095" ixz="-0.00000983385" iyy="0.00019708305" iyz="-0.00000306125" izz="0.00018105446"/>
    </inertial>
    <visual>
      <origin rpy="0 0 0" xyz="0 0 0"/>
      <geometry>
        <mesh filename="package://pr2_description/meshes/gripper_v0/l_finger.dae"/>
      </geometry>
      <material name="Grey"/>
    </visual>
    <collision>
      <origin rpy="0 0 0" xyz="0 0 0"/>
      <geometry>
        <mesh filename="package://pr2_description/meshes/gripper_v0/l_finger.stl"/>
      </geometry>
    </collision>
  </link>
  <joint name="r_gripper_r_finger_joint" type="revolute">
    <parent link="r_gripper_palm_link"/>
    <child link="r_gripper_r_finger_link"/>
    <origin rpy="0 0 0" xyz="0.07691 -0.01 0"/>
    <axis xyz="0 0 -1"/>
    <limit effort="1000" lower="0" upper="0.548" velocity="0.5"/>
    <dynamics damping="0.02"/>
  </joint>
  <link name="r_gripper_r_finger_link">
    <inertial>
      <mass value="0.17389"/>
      <origin rpy="0 0 0" xyz="0.03576 -0.01736 -0.00095"/>
      <inertia ixx="0.0000773841" ixy="-0.00000209309" ixz="-0.00000836228" iyy="0.00019847383" iyz="0.0000024611" izz="0.00018106988"/>
    </inertial>
    <visual>
      <origin rpy="3.14159265359 0 0" xyz="0 0 0"/>
      <geometry>
        <mesh filename="package://pr2_description/meshes/gripper_v0/l_finger.dae"/>
      </geometry>
      <material name="Grey"/>
    </visual>
    <collision>
      <origin rpy="3.14159265359 0 0" xyz="0 0 0"/>
      <geometry>
        <mesh filename="package://pr2_description/meshes/gripper_v0/l_finger.stl"/>
      </geometry>
    </collision>
  </link>
  <joint name="r_gripper_l_finger_tip_joint" type="revolute">
    <parent link="r_gripper_l_finger_link"/>
    <child link="r_gripper_l_finger_tip_link"/>
    <origin rpy="0 0 0" xyz="0.09137 0.00495 0"/>
    <axis xyz="0 0 -1"/>
    <limit effort="1000" lower="0" upper="0.548" velocity="0.5"/>
    <dynamics damping="0.001"/>
  </joint>
  <link name="r_gripper_l_finger_tip_link">
    <inertial>
      <mass value="0.04419"/>
      <origin rpy="0 0 0" xyz="0.00423 0.00284 0"/>
      <inertia ixx="0.00000837047" ixy="0.00000583632" ixz="0" iyy="0.00000987067" iyz="0" izz="0.00001541768"/>
    </inertial>
    <visual>
      <origin rpy="0 0 0" xyz="0 0 0"/>
      <geometry>
        <mesh filename="package://pr2_description/meshes/gripper_v0/l_finger_tip.dae"/>
      </geometry>
      <material name="Green"/>
    </visual>
    <collision>
      <origin rpy="0 0 0" xyz="0 0 0"/>
      <geometry>
        <mesh filename="package://pr2_description/meshes/gripper_v0/l_finger_tip.stl"/>
      </geometry>
    </collision>
  </link>
  <joint name="r_gripper_r_finger_tip_joint" type="revolute">
    <parent link="r_gripper_r_finger_link"/>
    <child link="r_gripper_r_finger_tip_link"/>
    <origin rpy="0 0 0" xyz="0.09137 -0.00495 0"/>
    <axis xyz="0 0 1"/>
    <limit effort="1000" lower="0" upper="0.548" velocity="0.5"/>
    <dynamics damping="0.001"/>
  </joint>
  <link name="r_gripper_r_finger_tip_link">
    <inertial>
      <mass value="0.04419"/>
      <origin rpy="0 0 0" xyz="0.00423 -0.00284 0"/>
      <inertia ixx="0.00000837047" ixy="-0.00000583632" ixz="0" iyy="0.00000987067" iyz="0" izz="0.00001541768"/>
    </inertial>
    <visual>
      <origin rpy="3.14159265359 0 0" xyz="0 0 0"/>
      <geometry>
        <mesh filename="package://pr2_description/meshes/gripper_v0/l_finger_tip.dae"/>
      </geometry>
      <material name="Green"/>
    </visual>
    <collision>
      <origin rpy="3.14159265359 0 0" xyz="0 0 0"/>
      <geometry>
        <mesh filename="package://pr2_description/meshes/gripper_v0/l_finger_tip.stl"/>
      </geometry>
    </collision>
  </link>
  <gazebo reference="r_gripper_l_finger_link">
    <turnGravityOff>true</turnGravityOff>
    <mu1 value="500.0"/>
    <mu2 value="500.0"/>
    <kp value="1000000.0"/>
    <kd value="1.0"/>
  </gazebo>
  <gazebo reference="r_gripper_l_finger_joint">
    <stopKd value="1.0"/>
    <stopKp value="10000000.0"/>
    <fudgeFactor value="1.0"/>
    <provideFeedback value="true"/>
  </gazebo>
  <gazebo reference="r_gripper_r_finger_link">
    <turnGravityOff>true</turnGravityOff>
    <mu1 value="500.0"/>
    <mu2 value="500.0"/>
    <kp value="1000000.0"/>
    <kd value="1.0"/>
  </gazebo>
  <gazebo reference="r_gripper_r_finger_joint">
    <stopKd value="1.0"/>
    <stopKp value="10000000.0"/>
    <fudgeFactor value="1.0"/>
    <provideFeedback value="true"/>
  </gazebo>
  <gazebo reference="r_gripper_l_finger_tip_link">
    <turnGravityOff>true</turnGravityOff>
    <selfCollide>false</selfCollide>
    <sensor:contact name="r_gripper_l_finger_tip_contact_sensor">
      <geom>r_gripper_l_finger_tip_link_geom</geom>
      <updateRate>100.0</updateRate>
      <controller:gazebo_ros_bumper name="r_gripper_l_finger_tip_gazebo_ros_bumper_controller" plugin="libgazebo_ros_bumper.so">
        <alwaysOn>true</alwaysOn>
        <frameName>r_gripper_l_finger_tip_link</frameName>
        <updateRate>100.0</updateRate>
        <bumperTopicName>r_gripper_l_finger_tip_bumper</bumperTopicName>
        <interface:bumper name="r_gripper_l_finger_tip_gazebo_ros_bumper_iface"/>
      </controller:gazebo_ros_bumper>
    </sensor:contact>
    <mu1 value="500.0"/>
    <mu2 value="500.0"/>
    <kp value="10000000.0"/>
    <kd value="1.0"/>
  </gazebo>
  <gazebo reference="r_gripper_l_finger_tip_joint">
    <stopKd value="1.0"/>
    <stopKp value="10000000.0"/>
    <fudgeFactor value="1.0"/>
    <provideFeedback value="true"/>
  </gazebo>
  <gazebo reference="r_gripper_r_finger_tip_link">
    <turnGravityOff>true</turnGravityOff>
    <selfCollide>false</selfCollide>
    <sensor:contact name="r_gripper_r_finger_tip_contact_sensor">
      <geom>r_gripper_r_finger_tip_link_geom</geom>
      <updateRate>100.0</updateRate>
      <controller:gazebo_ros_bumper name="r_gripper_r_finger_tip_gazebo_ros_bumper_controller" plugin="libgazebo_ros_bumper.so">
        <alwaysOn>true</alwaysOn>
        <frameName>r_gripper_r_finger_tip_link</frameName>
        <updateRate>100.0</updateRate>
        <bumperTopicName>r_gripper_r_finger_tip_bumper</bumperTopicName>
        <interface:bumper name="r_gripper_r_finger_tip_gazebo_ros_bumper_iface"/>
      </controller:gazebo_ros_bumper>
    </sensor:contact>
    <mu1 value="500.0"/>
    <mu2 value="500.0"/>
    <kp value="10000000.0"/>
    <kd value="1.0"/>
  </gazebo>
  <gazebo>
    <controller:gazebo_ros_p3d name="p3d_r_gripper_l_finger_controller" plugin="libgazebo_ros_p3d.so">
      <alwaysOn>true</alwaysOn>
      <updateRate>100.0</updateRate>
      <bodyName/>
      <topicName>r_gripper_l_finger_pose_ground_truth</topicName>
      <gaussianNoise>0.0</gaussianNoise>
      <frameName>base_link</frameName>
      <interface:position name="p3d_r_gripper_l_finger_position_iface"/>
    </controller:gazebo_ros_p3d>
    <controller:gazebo_ros_f3d name="f3d_r_gripper_l_finger_controller" plugin="libgazebo_ros_f3d.so">
      <alwaysOn>true</alwaysOn>
      <updateRate>100.0</updateRate>
      <bodyName/>
      <topicName>r_gripper_l_finger_force_ground_truth</topicName>
      <frameName>r_gripper_l_finger_link</frameName>
      <interface:position name="f3d_r_gripper_l_finger_force_iface"/>
    </controller:gazebo_ros_f3d>
  </gazebo>
  <gazebo reference="r_gripper_r_finger_tip_joint">
    <stopKd value="1.0"/>
    <stopKp value="10000000.0"/>
    <fudgeFactor value="1.0"/>
    <provideFeedback value="true"/>
  </gazebo>
  <gazebo>
    <body:box name="r_gripper_l_parallel_link">
      <massMatrix>true</massMatrix>
      <mass>0.17126</mass>
      <ixx>7.7562e-05</ixx>
      <ixy>1.49095e-06</ixy>
      <ixz>-9.83385e-06</ixz>
      <iyy>0.000197083</iyy>
      <iyz>-3.06125e-06</iyz>
      <izz>0.000181054</izz>
      <cx>0.03598</cx>
      <cy>0.0173</cy>
      <cz>-0.00164</cz>
      <xyz>0.82991 -0.157 0.790675</xyz>
      <rpy>0 -0 0</rpy>
      <turnGravityOff>true</turnGravityOff>
      <selfCollide>false</selfCollide>
    </body:box>
    <body:box name="r_gripper_r_parallel_link">
      <massMatrix>true</massMatrix>
      <mass>0.17389</mass>
      <ixx>7.73841e-05</ixx>
      <ixy>-2.09309e-06</ixy>
      <ixz>-8.36228e-06</ixz>
      <iyy>0.000198474</iyy>
      <iyz>2.4611e-06</iyz>
      <izz>0.00018107</izz>
      <cx>0.03576</cx>
      <cy>-0.01736</cy>
      <cz>-0.00095</cz>
      <xyz>0.82991 -0.219 0.790675</xyz>
      <rpy>0 -0 0</rpy>
      <turnGravityOff>true</turnGravityOff>
      <selfCollide>false</selfCollide>
    </body:box>
  </gazebo>
  <gazebo>
    <joint:screw name="r_gripper_r_screw_screw_joint">
      <body1/>
      <body2/>
      <anchor>r_gripper_motor_screw_link</anchor>
      <anchorOffset>0 0 0</anchorOffset>
      <axis>0 1 0</axis>
      <threadPitch>-3141.6</threadPitch>
    </joint:screw>
    <joint:screw name="r_gripper_l_screw_screw_joint">
      <body1/>
      <body2/>
      <anchor>r_gripper_motor_screw_link</anchor>
      <anchorOffset>0 0 0</anchorOffset>
      <axis>0 1 0</axis>
      <threadPitch>3141.6</threadPitch>
    </joint:screw>
  </gazebo>
  <gazebo>
    <joint:hinge name="r_gripper_r_parallel_root_joint">
      <body1/>
      <body2/>
      <anchor>r_gripper_palm_link</anchor>
      <axis>0 0 -1</axis>
      <damping>0.2</damping>
      <anchorOffset>0.05891 -0.031 0</anchorOffset>
    </joint:hinge>
    <joint:hinge name="r_gripper_l_parallel_root_joint">
      <body1/>
      <body2/>
      <anchor>r_gripper_palm_link</anchor>
      <axis>0 0 1</axis>
      <damping>0.2</damping>
      <anchorOffset>0.05891 0.031 0</anchorOffset>
    </joint:hinge>
    <joint:hinge name="r_gripper_r_parallel_tip_joint">
      <body1/>
      <body2/>
      <anchor>r_gripper_r_finger_tip_link</anchor>
      <axis>0 0 1</axis>
      <anchorOffset>-0.018 -0.021 0</anchorOffset>
    </joint:hinge>
    <joint:hinge name="r_gripper_l_parallel_tip_joint">
      <body1/>
      <body2/>
      <anchor>r_gripper_l_finger_tip_link</anchor>
      <axis>0 0 1</axis>
      <anchorOffset>-0.018 0.021 0</anchorOffset>
    </joint:hinge>
    <joint:slider name="r_gripper_joint">
      <body1/>
      <body2/>
      <anchor>r_gripper_l_finger_tip_link</anchor>
      <axis>0 1 0</axis>
    </joint:slider>
  </gazebo>
  <gazebo reference="r_gripper_motor_slider_link">
    <turnGravityOff>true</turnGravityOff>
    <material value="PR2/Red"/>
  </gazebo>
  <gazebo reference="r_gripper_motor_screw_link">
    <turnGravityOff>true</turnGravityOff>
    <material value="PR2/Red"/>
  </gazebo>
  <gazebo reference="r_gripper_l_parallel_link">
    <turnGravityOff>true</turnGravityOff>
    <material value="PR2/Red"/>
  </gazebo>
  <gazebo reference="r_gripper_r_parallel_link">
    <turnGravityOff>true</turnGravityOff>
    <material value="PR2/Red"/>
  </gazebo>
  <joint name="r_gripper_joint" type="prismatic">
    <parent link="r_gripper_r_finger_tip_link"/>
    <child link="r_gripper_l_finger_tip_frame"/>
    <origin rpy="0 0 0" xyz="0 0 0"/>
    <axis xyz="0 1 0"/>
    <limit effort="1000" lower="0" upper="0.09" velocity="0.2"/>
    <dynamics damping="10.0"/>
    <safety_controller k_position="20" k_velocity="5000" soft_lower_limit="-0.01" soft_upper_limit="0.088"/>
  </joint>
  <link name="r_gripper_l_finger_tip_frame"/>
  <gazebo reference="r_gripper_palm_link">
    <turnGravityOff>true</turnGravityOff>
  </gazebo>
  <gazebo>
    <controller:gazebo_ros_p3d name="p3d_r_gripper_palm_controller" plugin="libgazebo_ros_p3d.so">
      <alwaysOn>true</alwaysOn>
      <updateRate>100.0</updateRate>
      <bodyName/>
      <topicName>r_gripper_palm_pose_ground_truth</topicName>
      <xyzOffsets>0 0 0</xyzOffsets>
      <rpyOffsets>0 0 0</rpyOffsets>
      <gaussianNoise>0.0</gaussianNoise>
      <frameName>map</frameName>
      <interface:position name="p3d_r_gripper_palm_position_iface"/>
    </controller:gazebo_ros_p3d>
    <gripper name="r_grasp_hack">


      <grasp_check attach_steps="20" detach_steps="40" min_contact_count="2"/>


      <gripper_link>r_gripper_r_finger_tip_link</gripper_link>


      <gripper_link>r_gripper_l_finger_tip_link</gripper_link>


      <palm_link>r_gripper_palm_link</palm_link>


    </gripper>
  </gazebo>
  <transmission name="r_gripper_trans" type="pr2_mechanism_model/PR2GripperTransmission">
    <actuator name="r_gripper_motor"/>
    <gap_joint L0="0.0375528" a="0.0683698" b="0.0433849" gear_ratio="40.095" h="0.0" mechanical_reduction="1.0" name="r_gripper_joint" phi0="0.518518122146" r="0.0915" screw_reduction="0.004" t0="-0.0001914" theta0="0.0628824676201"/>
    <use_simulated_gripper_joint/>
    <passive_joint name="r_gripper_l_finger_joint"/>
    <passive_joint name="r_gripper_r_finger_joint"/>
    <passive_joint name="r_gripper_r_finger_tip_joint"/>
    <passive_joint name="r_gripper_l_finger_tip_joint"/>
    <simulated_actuated_joint name="r_gripper_motor_screw_joint" passive_actuated_joint="r_gripper_motor_slider_joint" simulated_reduction="3141.6"/>
  </transmission>
  <joint name="l_shoulder_pan_joint" type="revolute">
    <parent link="torso_lift_link"/>
    <child link="l_shoulder_pan_link"/>
    <origin rpy="0 0 0" xyz="0 0.188 0"/>
    <axis xyz="0 0 1"/>
    <limit effort="30" lower="-0.714601836603" upper="2.2853981634" velocity="2.088"/>
    <dynamics damping="10.0"/>
    <safety_controller k_position="100" k_velocity="10" soft_lower_limit="-0.564601836603" soft_upper_limit="2.1353981634"/>
    <calibration rising="0.767843868361"/>
  </joint>
  <link name="l_shoulder_pan_link">
    <inertial>
      <mass value="25.799322"/>
      <origin rpy="0 0 0" xyz="-0.001201 0.024513 -0.098231"/>
      <inertia ixx="0.86617914248" ixy="-0.06086507933" ixz="-0.12118061183" iyy="0.87421714893" iyz="-0.05886609911" izz="0.27353821674"/>
    </inertial>
    <visual>
      <origin rpy="0 0 0" xyz="0 0 0"/>
      <geometry>
        <mesh filename="package://pr2_description/meshes/shoulder_v0/shoulder_pan.dae"/>
      </geometry>
      <material name="Blue"/>
    </visual>
    <collision>
      <origin rpy="0 0 0" xyz="0 0 0"/>
      <geometry>
        <mesh filename="package://pr2_description/meshes/shoulder_v0/shoulder_pan.stl"/>
      </geometry>
    </collision>
  </link>
  <joint name="l_shoulder_lift_joint" type="revolute">
    <parent link="l_shoulder_pan_link"/>
    <child link="l_shoulder_lift_link"/>
    <origin rpy="0 0 0" xyz="0.1 0 0"/>
    <axis xyz="0 1 0"/>
    <limit effort="30" lower="-0.5236" upper="1.3963" velocity="2.082"/>
    <dynamics damping="10.0"/>
    <safety_controller k_position="100" k_velocity="10" soft_lower_limit="-0.3536" soft_upper_limit="1.2963"/>
    <calibration falling="-0.007292577607"/>
  </joint>
  <link name="l_shoulder_lift_link">
    <inertial>
      <mass value="2.74988"/>
      <origin rpy="0 0 0" xyz="0.02195 -0.02664 -0.03127"/>
      <inertia ixx="0.02105584615" ixy="0.00496704022" ixz="-0.00194808955" iyy="0.02127223737" iyz="0.0011042549" izz="0.01975753814"/>
    </inertial>
    <visual>
      <origin rpy="0 0 0" xyz="0 0 0"/>
      <geometry>
        <mesh filename="package://pr2_description/meshes/shoulder_v0/shoulder_lift.dae"/>
      </geometry>
      <material name="Grey"/>
    </visual>
    <collision>
      <origin rpy="0 0 0" xyz="0 0 0"/>
      <geometry>
        <mesh filename="package://pr2_description/meshes/shoulder_v0/shoulder_lift.stl"/>
      </geometry>
    </collision>
  </link>
  <joint name="l_upper_arm_roll_joint" type="revolute">
    <parent link="l_shoulder_lift_link"/>
    <child link="l_upper_arm_roll_link"/>
    <origin rpy="0 0 0" xyz="0 0 0"/>
    <axis xyz="1 0 0"/>
    <limit effort="30" lower="-0.8" upper="3.9" velocity="3.27"/>
    <dynamics damping="0.1"/>
    <safety_controller k_position="100" k_velocity="2" soft_lower_limit="-0.65" soft_upper_limit="3.75"/>
    <calibration rising="1.578991222383"/>
  </joint>
  <link name="l_upper_arm_roll_link">
    <inertial>
      <mass value="0.1"/>
      <origin rpy="0 0 0" xyz="0 0 0"/>
      <inertia ixx="0.01" ixy="0" ixz="0" iyy="0.01" iyz="0" izz="0.01"/>
    </inertial>
    <visual>
      <origin rpy="0 0 0" xyz="0 0 0"/>
      <geometry>
        <mesh filename="package://pr2_description/meshes/shoulder_v0/upper_arm_roll.stl"/>
      </geometry>
      <material name="RollLinks"/>
    </visual>
    <collision>
      <origin rpy="0 0 0" xyz="0 0 0"/>
      <geometry>
        <mesh filename="package://pr2_description/meshes/shoulder_v0/upper_arm_roll_L.stl"/>
      </geometry>
    </collision>
  </link>
  <gazebo reference="l_upper_arm_roll_link">
    <material value="PR2/RollLinks"/>
    <turnGravityOff>true</turnGravityOff>
  </gazebo>
  <gazebo reference="l_upper_arm_roll_joint">
    <stopKd value="1.0"/>
    <stopKp value="1000000.0"/>
    <fudgeFactor value="0.5"/>
  </gazebo>
  <transmission name="l_upper_arm_roll_trans" type="pr2_mechanism_model/SimpleTransmission">
    <actuator name="l_upper_arm_roll_motor"/>
    <joint name="l_upper_arm_roll_joint"/>
    <mechanicalReduction>32.6525111499</mechanicalReduction>
  </transmission>
  <gazebo reference="l_shoulder_pan_link">
    <turnGravityOff>true</turnGravityOff>
  </gazebo>
  <gazebo reference="l_shoulder_pan_joint">
    <stopKd value="1.0"/>
    <stopKp value="1000000.0"/>
  </gazebo>
  <gazebo reference="l_shoulder_lift_link">
    <turnGravityOff>true</turnGravityOff>
  </gazebo>
  <gazebo reference="l_shoulder_lift_joint">
    <stopKd value="1.0"/>
    <stopKp value="1000000.0"/>
  </gazebo>
  <transmission name="l_shoulder_pan_trans" type="pr2_mechanism_model/SimpleTransmission">
    <actuator name="l_shoulder_pan_motor"/>
    <joint name="l_shoulder_pan_joint"/>
    <mechanicalReduction>63.1552452977</mechanicalReduction>
    <compensator k_belt="4000.0" kd_motor="15.0" lambda_combined="0.0" lambda_joint="40.0" lambda_motor="40.0" mass_motor="0.05"/>
  </transmission>
  <transmission name="l_shoulder_lift_trans" type="pr2_mechanism_model/SimpleTransmission">
    <actuator name="l_shoulder_lift_motor"/>
    <joint name="l_shoulder_lift_joint"/>
    <mechanicalReduction>61.8948225713</mechanicalReduction>
    <compensator k_belt="4000.0" kd_motor="10.0" lambda_combined="0.0" lambda_joint="60.0" lambda_motor="60.0" mass_motor="0.05"/>
  </transmission>
  <joint name="l_upper_arm_joint" type="fixed">
    <parent link="l_upper_arm_roll_link"/>
    <child link="l_upper_arm_link"/>
    <origin rpy="0 0 0" xyz="0 0 0"/>
  </joint>
  <link name="l_upper_arm_link">
    <inertial>
      <mass value="6.01769"/>
      <origin xyz="0.21405 0.01658 -0.00057"/>
      <inertia ixx="0.01530603856" ixy="-0.00339324862" ixz="0.00060765455" iyy="0.07473694455" iyz="-0.00019953729" izz="0.07601594191"/>
    </inertial>
    <visual>
      <origin rpy="0 0 0" xyz="0 0 0"/>
      <geometry>
        <mesh filename="package://pr2_description/meshes/upper_arm_v0/upper_arm.dae"/>
      </geometry>
      <material name="Green"/>
    </visual>
    <collision>
      <origin rpy="0 0 0" xyz="0 0 0"/>
      <geometry>
        <mesh filename="package://pr2_description/meshes/upper_arm_v0/upper_arm.stl"/>
      </geometry>
    </collision>
  </link>
  <gazebo reference="l_upper_arm_link">
    <turnGravityOff>true</turnGravityOff>
  </gazebo>
  <joint name="l_forearm_roll_joint" type="continuous">
    <parent link="l_elbow_flex_link"/>
    <child link="l_forearm_roll_link"/>
    <origin rpy="0 0 0" xyz="0 0 0"/>
    <axis xyz="1 0 0"/>
    <limit effort="30" velocity="3.6"/>
    <dynamics damping="0.1"/>
    <safety_controller k_velocity="1"/>
    <calibration rising="0.002506765392"/>
  </joint>
  <link name="l_forearm_roll_link">
    <inertial>
      <mass value="0.1"/>
      <origin xyz="0 0 0"/>
      <inertia ixx="0.01" ixy="0" ixz="0" iyy="0.01" iyz="0" izz="0.01"/>
    </inertial>
    <visual>
      <origin rpy="0 0 0" xyz="0 0 0"/>
      <geometry>
        <mesh filename="package://pr2_description/meshes/upper_arm_v0/forearm_roll.stl"/>
      </geometry>
      <material name="RollLinks"/>
    </visual>
    <collision>
      <origin rpy="0 0 0" xyz="0 0 0"/>
      <geometry>
        <mesh filename="package://pr2_description/meshes/upper_arm_v0/forearm_roll_L.stl"/>
      </geometry>
    </collision>
  </link>
  <gazebo reference="l_forearm_roll_link">
    <material value="PR2/RollLinks"/>
    <turnGravityOff>true</turnGravityOff>
  </gazebo>
  <gazebo reference="l_forearm_roll_joint">
    <fudgeFactor value="0.5"/>
  </gazebo>
  <transmission name="l_forearm_roll_trans" type="pr2_mechanism_model/SimpleTransmission">
    <actuator name="l_forearm_roll_motor"/>
    <joint name="l_forearm_roll_joint"/>
    <mechanicalReduction>-90.5142857143</mechanicalReduction>
  </transmission>
  <joint name="l_elbow_flex_joint" type="revolute">
    <parent link="l_upper_arm_link"/>
    <child link="l_elbow_flex_link"/>
    <origin rpy="0 0 0" xyz="0.4 0 0"/>
    <axis xyz="0 1 0"/>
    <limit effort="30" lower="-2.3213" upper="0" velocity="3.3"/>
    <dynamics damping="1.0"/>
    <safety_controller k_position="100" k_velocity="3" soft_lower_limit="-2.1213" soft_upper_limit="-0.15"/>
    <calibration falling="-1.1606"/>
  </joint>
  <link name="l_elbow_flex_link">
    <inertial>
      <mass value="1.90327"/>
      <origin xyz="0.01014 0.00032 -0.01211"/>
      <inertia ixx="0.00346541989" ixy="0.00004066825" ixz="0.00043171614" iyy="0.00441606455" iyz="-0.00003968914" izz="0.00359156824"/>
    </inertial>
    <visual>
      <origin rpy="0 0 0" xyz="0 0 0"/>
      <geometry>
        <mesh filename="package://pr2_description/meshes/upper_arm_v0/elbow_flex.dae"/>
      </geometry>
      <material name="Grey"/>
    </visual>
    <collision>
      <origin rpy="0 0 0" xyz="0 0 0"/>
      <geometry>
        <mesh filename="package://pr2_description/meshes/upper_arm_v0/elbow_flex.stl"/>
      </geometry>
    </collision>
  </link>
  <gazebo reference="l_elbow_flex_joint">
    <initial_joint_position>-1.0</initial_joint_position>
  </gazebo>
  <gazebo reference="l_elbow_flex_link">
    <turnGravityOff>true</turnGravityOff>
  </gazebo>
  <gazebo reference="l_elbow_flex_joint">
    <stopKd value="1.0"/>
    <stopKp value="1000000.0"/>
  </gazebo>
  <transmission name="l_elbow_flex_trans" type="pr2_mechanism_model/SimpleTransmission">
    <actuator name="l_elbow_flex_motor"/>
    <joint name="l_elbow_flex_joint"/>
    <mechanicalReduction>-36.167452007</mechanicalReduction>
  </transmission>
  <joint name="l_forearm_joint" type="fixed">
    <parent link="l_forearm_roll_link"/>
    <child link="l_forearm_link"/>
    <origin rpy="0 0 0" xyz="0 0 0"/>
  </joint>
  <link name="l_forearm_link">
    <inertial>
      <mass value="2.57968"/>
      <origin xyz="0.18791 -0.00017 -0.00912"/>
      <inertia ixx="0.00364857222" ixy="0.00005215877" ixz="0.00071534842" iyy="0.01507736897" iyz="-0.0000131077" izz="0.01659310749"/>
    </inertial>
    <visual>
      <origin rpy="0 0 0" xyz="0 0 0"/>
      <geometry>
        <mesh filename="package://pr2_description/meshes/forearm_v0/forearm.dae"/>
      </geometry>
      <material name="Grey"/>
    </visual>
    <collision>
      <origin rpy="0 0 0" xyz="0 0 0"/>
      <geometry>
        <mesh filename="package://pr2_description/meshes/forearm_v0/forearm.stl"/>
      </geometry>
    </collision>
  </link>
  <joint name="l_wrist_flex_joint" type="revolute">
    <parent link="l_forearm_link"/>
    <child link="l_wrist_flex_link"/>
    <origin rpy="0 0 0" xyz="0.321 0 0"/>
    <axis xyz="0 1 0"/>
    <limit effort="10" lower="-2.18" upper="0" velocity="3.078"/>
    <dynamics damping="0.1"/>
    <safety_controller k_position="20" k_velocity="4" soft_lower_limit="-2" soft_upper_limit="-0.1"/>
    <calibration falling="-0.498970877657"/>
  </joint>
  <link name="l_wrist_flex_link">
    <inertial>
      <mass value="0.61402"/>
      <origin xyz="-0.00157 0 -0.00075"/>
      <inertia ixx="0.00065165722" ixy="0.00000028864" ixz="0.00000303477" iyy="0.00019824443" iyz="-0.00000022645" izz="0.00064450498"/>
    </inertial>
    <visual>
      <origin rpy="0 0 0" xyz="0 0 0"/>
      <geometry>
        <mesh filename="package://pr2_description/meshes/forearm_v0/wrist_flex.dae"/>
      </geometry>
      <material name="Grey"/>
    </visual>
    <collision>
      <origin rpy="0 0 0" xyz="0 0 0"/>
      <geometry>
        <mesh filename="package://pr2_description/meshes/forearm_v0/wrist_flex.stl"/>
      </geometry>
    </collision>
  </link>
  <joint name="l_wrist_roll_joint" type="continuous">
    <parent link="l_wrist_flex_link"/>
    <child link="l_wrist_roll_link"/>
    <origin rpy="0 0 0" xyz="0 0 0"/>
    <axis xyz="1 0 0"/>
    <limit effort="10" velocity="3.6"/>
    <dynamics damping="0.1"/>
    <safety_controller k_velocity="2"/>
    <calibration rising="-1.540246949456"/>
  </joint>
  <link name="l_wrist_roll_link">
    <inertial>
      <mass value="0.1"/>
      <origin xyz="0 0 0"/>
      <inertia ixx="0.01" ixy="0" ixz="0" iyy="0.01" iyz="0" izz="0.01"/>
    </inertial>
    <visual>
      <origin rpy="0 0 0" xyz="0 0 0"/>
      <geometry>
        <mesh filename="package://pr2_description/meshes/forearm_v0/wrist_roll.stl"/>
      </geometry>
      <material name="RollLinks"/>
    </visual>
    <collision>
      <origin rpy="0 0 0" xyz="0 0 0"/>
      <geometry>
        <mesh filename="package://pr2_description/meshes/forearm_v0/wrist_roll_L.stl"/>
      </geometry>
    </collision>
  </link>
  <gazebo reference="l_forearm_link">
    <turnGravityOff>true</turnGravityOff>
  </gazebo>
  <gazebo reference="l_wrist_flex_link">
    <turnGravityOff>true</turnGravityOff>
  </gazebo>
  <gazebo reference="l_wrist_flex_joint">
    <stopKd value="1.0"/>
    <stopKp value="1000000.0"/>
  </gazebo>
  <gazebo reference="l_wrist_roll_link">
    <turnGravityOff>true</turnGravityOff>
    <material value="PR2/RollLinks"/>
  </gazebo>
  <gazebo reference="l_wrist_roll_joint">
    <fudgeFactor value="0.5"/>
  </gazebo>
  <transmission name="l_wrist_trans" type="pr2_mechanism_model/WristTransmission">
    <rightActuator mechanicalReduction="60.1714285714" name="l_wrist_r_motor"/>
    <leftActuator mechanicalReduction="60.1714285714" name="l_wrist_l_motor"/>
    <flexJoint mechanicalReduction="-1.0" name="l_wrist_flex_joint"/>
    <rollJoint mechanicalReduction="1.0" name="l_wrist_roll_joint"/>
  </transmission>
  <joint name="l_gripper_palm_joint" type="fixed">
    <parent link="l_wrist_roll_link"/>
    <child link="l_gripper_palm_link"/>
    <origin rpy="0 0 0" xyz="0 0 0"/>
  </joint>
  <link name="l_gripper_palm_link">
    <inertial>
      <mass value="0.58007"/>
      <origin rpy="0 0 0" xyz="0.06623 0.00053 -0.00119"/>
      <inertia ixx="0.00035223921" ixy="-0.00001580476" ixz="-0.0000009175" iyy="0.00067741312" iyz="-0.00000059554" izz="0.00086563316"/>
    </inertial>
    <visual>
      <origin rpy="0 0 0" xyz="0 0 0"/>
      <geometry>
        <mesh filename="package://pr2_description/meshes/gripper_v0/gripper_palm.dae"/>
      </geometry>
      <material name="Red"/>
    </visual>
    <collision>
      <origin rpy="0 0 0" xyz="0 0 0"/>
      <geometry>
        <mesh filename="package://pr2_description/meshes/gripper_v0/gripper_palm.stl"/>
      </geometry>
    </collision>
  </link>
  <joint name="l_gripper_led_joint" type="fixed">
    <parent link="l_gripper_palm_link"/>
    <child link="l_gripper_led_frame"/>
    <origin rpy="0 0 0" xyz="0.0513 0 0.0244"/>
  </joint>
  <link name="l_gripper_led_frame"/>
  <joint name="l_gripper_motor_accelerometer_joint" type="fixed">
    <parent link="l_gripper_palm_link"/>
    <child link="l_gripper_motor_accelerometer_link"/>
    <origin rpy="0 0 0" xyz="0 0 0"/>
  </joint>
  <link name="l_gripper_motor_accelerometer_link">
    <inertial>
      <mass value="0.001"/>
      <origin rpy="0 0 0" xyz="0 0 0"/>
      <inertia ixx="0.001" ixy="0" ixz="0" iyy="0.001" iyz="0" izz="0.001"/>
    </inertial>
    <visual>
      <origin rpy="0 0 0" xyz="0 0 0"/>
      <geometry>
        <box size="0.001 0.001 0.001"/>
      </geometry>
    </visual>
    <collision>
      <origin rpy="0 0 0" xyz="0 0 0"/>
      <geometry>
        <box size="0.001 0.001 0.001"/>
      </geometry>
    </collision>
  </link>
  <joint name="l_gripper_tool_joint" type="fixed">
    <parent link="l_gripper_palm_link"/>
    <child link="l_gripper_tool_frame"/>
    <origin rpy="0 0 0" xyz="0.18 0 0"/>
  </joint>
  <link name="l_gripper_tool_frame"/>
  <link name="l_gripper_motor_slider_link">
    <inertial>
      <mass value="0.01"/>
      <origin rpy="0 0 0" xyz="0 0 0"/>
      <inertia ixx="0.001" ixy="0" ixz="0" iyy="0.001" iyz="0" izz="0.001"/>
    </inertial>
  </link>
  <joint name="l_gripper_motor_slider_joint" type="prismatic">
    <parent link="l_gripper_palm_link"/>
    <child link="l_gripper_motor_slider_link"/>
    <origin rpy="0 0 0" xyz="0.16828 0 0"/>
    <axis xyz="1 0 0"/>
    <limit effort="1000" lower="-0.1" upper="0.1" velocity="0.2"/>
  </joint>
  <link name="l_gripper_motor_screw_link">
    <inertial>
      <mass value="0.01"/>
      <origin rpy="0 0 0" xyz="0 0 0"/>
      <inertia ixx="0.0001" ixy="0" ixz="0" iyy="0.0001" iyz="0" izz="0.0001"/>
    </inertial>
  </link>
  <joint name="l_gripper_motor_screw_joint" type="continuous">
    <parent link="l_gripper_motor_slider_link"/>
    <child link="l_gripper_motor_screw_link"/>
    <origin rpy="0 0 0" xyz="0 0 0"/>
    <axis xyz="0 1 0"/>
    <dynamics damping="0.0001"/>
  </joint>
  <joint name="l_gripper_l_finger_joint" type="revolute">
    <parent link="l_gripper_palm_link"/>
    <child link="l_gripper_l_finger_link"/>
    <origin rpy="0 0 0" xyz="0.07691 0.01 0"/>
    <axis xyz="0 0 1"/>
    <limit effort="1000" lower="0" upper="0.548" velocity="0.5"/>
    <dynamics damping="0.02"/>
  </joint>
  <link name="l_gripper_l_finger_link">
    <inertial>
      <mass value="0.17126"/>
      <origin rpy="0 0 0" xyz="0.03598 0.0173 -0.00164"/>
      <inertia ixx="0.00007756198" ixy="0.00000149095" ixz="-0.00000983385" iyy="0.00019708305" iyz="-0.00000306125" izz="0.00018105446"/>
    </inertial>
    <visual>
      <origin rpy="0 0 0" xyz="0 0 0"/>
      <geometry>
        <mesh filename="package://pr2_description/meshes/gripper_v0/l_finger.dae"/>
      </geometry>
      <material name="Grey"/>
    </visual>
    <collision>
      <origin rpy="0 0 0" xyz="0 0 0"/>
      <geometry>
        <mesh filename="package://pr2_description/meshes/gripper_v0/l_finger.stl"/>
      </geometry>
    </collision>
  </link>
  <joint name="l_gripper_r_finger_joint" type="revolute">
    <parent link="l_gripper_palm_link"/>
    <child link="l_gripper_r_finger_link"/>
    <origin rpy="0 0 0" xyz="0.07691 -0.01 0"/>
    <axis xyz="0 0 -1"/>
    <limit effort="1000" lower="0" upper="0.548" velocity="0.5"/>
    <dynamics damping="0.02"/>
  </joint>
  <link name="l_gripper_r_finger_link">
    <inertial>
      <mass value="0.17389"/>
      <origin rpy="0 0 0" xyz="0.03576 -0.01736 -0.00095"/>
      <inertia ixx="0.0000773841" ixy="-0.00000209309" ixz="-0.00000836228" iyy="0.00019847383" iyz="0.0000024611" izz="0.00018106988"/>
    </inertial>
    <visual>
      <origin rpy="3.14159265359 0 0" xyz="0 0 0"/>
      <geometry>
        <mesh filename="package://pr2_description/meshes/gripper_v0/l_finger.dae"/>
      </geometry>
      <material name="Grey"/>
    </visual>
    <collision>
      <origin rpy="3.14159265359 0 0" xyz="0 0 0"/>
      <geometry>
        <mesh filename="package://pr2_description/meshes/gripper_v0/l_finger.stl"/>
      </geometry>
    </collision>
  </link>
  <joint name="l_gripper_l_finger_tip_joint" type="revolute">
    <parent link="l_gripper_l_finger_link"/>
    <child link="l_gripper_l_finger_tip_link"/>
    <origin rpy="0 0 0" xyz="0.09137 0.00495 0"/>
    <axis xyz="0 0 -1"/>
    <limit effort="1000" lower="0" upper="0.548" velocity="0.5"/>
    <dynamics damping="0.001"/>
  </joint>
  <link name="l_gripper_l_finger_tip_link">
    <inertial>
      <mass value="0.04419"/>
      <origin rpy="0 0 0" xyz="0.00423 0.00284 0"/>
      <inertia ixx="0.00000837047" ixy="0.00000583632" ixz="0" iyy="0.00000987067" iyz="0" izz="0.00001541768"/>
    </inertial>
    <visual>
      <origin rpy="0 0 0" xyz="0 0 0"/>
      <geometry>
        <mesh filename="package://pr2_description/meshes/gripper_v0/l_finger_tip.dae"/>
      </geometry>
      <material name="Green"/>
    </visual>
    <collision>
      <origin rpy="0 0 0" xyz="0 0 0"/>
      <geometry>
        <mesh filename="package://pr2_description/meshes/gripper_v0/l_finger_tip.stl"/>
      </geometry>
    </collision>
  </link>
  <joint name="l_gripper_r_finger_tip_joint" type="revolute">
    <parent link="l_gripper_r_finger_link"/>
    <child link="l_gripper_r_finger_tip_link"/>
    <origin rpy="0 0 0" xyz="0.09137 -0.00495 0"/>
    <axis xyz="0 0 1"/>
    <limit effort="1000" lower="0" upper="0.548" velocity="0.5"/>
    <dynamics damping="0.001"/>
  </joint>
  <link name="l_gripper_r_finger_tip_link">
    <inertial>
      <mass value="0.04419"/>
      <origin rpy="0 0 0" xyz="0.00423 -0.00284 0"/>
      <inertia ixx="0.00000837047" ixy="-0.00000583632" ixz="0" iyy="0.00000987067" iyz="0" izz="0.00001541768"/>
    </inertial>
    <visual>
      <origin rpy="3.14159265359 0 0" xyz="0 0 0"/>
      <geometry>
        <mesh filename="package://pr2_description/meshes/gripper_v0/l_finger_tip.dae"/>
      </geometry>
      <material name="Green"/>
    </visual>
    <collision>
      <origin rpy="3.14159265359 0 0" xyz="0 0 0"/>
      <geometry>
        <mesh filename="package://pr2_description/meshes/gripper_v0/l_finger_tip.stl"/>
      </geometry>
    </collision>
  </link>
  <gazebo reference="l_gripper_l_finger_link">
    <turnGravityOff>true</turnGravityOff>
    <mu1 value="500.0"/>
    <mu2 value="500.0"/>
    <kp value="1000000.0"/>
    <kd value="1.0"/>
  </gazebo>
  <gazebo reference="l_gripper_l_finger_joint">
    <stopKd value="1.0"/>
    <stopKp value="10000000.0"/>
    <fudgeFactor value="1.0"/>
    <provideFeedback value="true"/>
  </gazebo>
  <gazebo reference="l_gripper_r_finger_link">
    <turnGravityOff>true</turnGravityOff>
    <mu1 value="500.0"/>
    <mu2 value="500.0"/>
    <kp value="1000000.0"/>
    <kd value="1.0"/>
  </gazebo>
  <gazebo reference="l_gripper_r_finger_joint">
    <stopKd value="1.0"/>
    <stopKp value="10000000.0"/>
    <fudgeFactor value="1.0"/>
    <provideFeedback value="true"/>
  </gazebo>
  <gazebo reference="l_gripper_l_finger_tip_link">
    <turnGravityOff>true</turnGravityOff>
    <selfCollide>false</selfCollide>
    <sensor:contact name="l_gripper_l_finger_tip_contact_sensor">
      <geom>l_gripper_l_finger_tip_link_geom</geom>
      <updateRate>100.0</updateRate>
      <controller:gazebo_ros_bumper name="l_gripper_l_finger_tip_gazebo_ros_bumper_controller" plugin="libgazebo_ros_bumper.so">
        <alwaysOn>true</alwaysOn>
        <frameName>l_gripper_l_finger_tip_link</frameName>
        <updateRate>100.0</updateRate>
        <bumperTopicName>l_gripper_l_finger_tip_bumper</bumperTopicName>
        <interface:bumper name="l_gripper_l_finger_tip_gazebo_ros_bumper_iface"/>
      </controller:gazebo_ros_bumper>
    </sensor:contact>
    <mu1 value="500.0"/>
    <mu2 value="500.0"/>
    <kp value="10000000.0"/>
    <kd value="1.0"/>
  </gazebo>
  <gazebo reference="l_gripper_l_finger_tip_joint">
    <stopKd value="1.0"/>
    <stopKp value="10000000.0"/>
    <fudgeFactor value="1.0"/>
    <provideFeedback value="true"/>
  </gazebo>
  <gazebo reference="l_gripper_r_finger_tip_link">
    <turnGravityOff>true</turnGravityOff>
    <selfCollide>false</selfCollide>
    <sensor:contact name="l_gripper_r_finger_tip_contact_sensor">
      <geom>l_gripper_r_finger_tip_link_geom</geom>
      <updateRate>100.0</updateRate>
      <controller:gazebo_ros_bumper name="l_gripper_r_finger_tip_gazebo_ros_bumper_controller" plugin="libgazebo_ros_bumper.so">
        <alwaysOn>true</alwaysOn>
        <frameName>l_gripper_r_finger_tip_link</frameName>
        <updateRate>100.0</updateRate>
        <bumperTopicName>l_gripper_r_finger_tip_bumper</bumperTopicName>
        <interface:bumper name="l_gripper_r_finger_tip_gazebo_ros_bumper_iface"/>
      </controller:gazebo_ros_bumper>
    </sensor:contact>
    <mu1 value="500.0"/>
    <mu2 value="500.0"/>
    <kp value="10000000.0"/>
    <kd value="1.0"/>
  </gazebo>
  <gazebo>
    <controller:gazebo_ros_p3d name="p3d_l_gripper_l_finger_controller" plugin="libgazebo_ros_p3d.so">
      <alwaysOn>true</alwaysOn>
      <updateRate>100.0</updateRate>
      <bodyName/>
      <topicName>l_gripper_l_finger_pose_ground_truth</topicName>
      <gaussianNoise>0.0</gaussianNoise>
      <frameName>base_link</frameName>
      <interface:position name="p3d_l_gripper_l_finger_position_iface"/>
    </controller:gazebo_ros_p3d>
    <controller:gazebo_ros_f3d name="f3d_l_gripper_l_finger_controller" plugin="libgazebo_ros_f3d.so">
      <alwaysOn>true</alwaysOn>
      <updateRate>100.0</updateRate>
      <bodyName/>
      <topicName>l_gripper_l_finger_force_ground_truth</topicName>
      <frameName>l_gripper_l_finger_link</frameName>
      <interface:position name="f3d_l_gripper_l_finger_force_iface"/>
    </controller:gazebo_ros_f3d>
  </gazebo>
  <gazebo reference="l_gripper_r_finger_tip_joint">
    <stopKd value="1.0"/>
    <stopKp value="10000000.0"/>
    <fudgeFactor value="1.0"/>
    <provideFeedback value="true"/>
  </gazebo>
  <gazebo>
    <body:box name="l_gripper_l_parallel_link">
      <massMatrix>true</massMatrix>
      <mass>0.17126</mass>
      <ixx>7.7562e-05</ixx>
      <ixy>1.49095e-06</ixy>
      <ixz>-9.83385e-06</ixz>
      <iyy>0.000197083</iyy>
      <iyz>-3.06125e-06</iyz>
      <izz>0.000181054</izz>
      <cx>0.03598</cx>
      <cy>0.0173</cy>
      <cz>-0.00164</cz>
      <xyz>0.82991 0.219 0.790675</xyz>
      <rpy>0 -0 0</rpy>
      <turnGravityOff>true</turnGravityOff>
      <selfCollide>false</selfCollide>
    </body:box>
    <body:box name="l_gripper_r_parallel_link">
      <massMatrix>true</massMatrix>
      <mass>0.17389</mass>
      <ixx>7.73841e-05</ixx>
      <ixy>-2.09309e-06</ixy>
      <ixz>-8.36228e-06</ixz>
      <iyy>0.000198474</iyy>
      <iyz>2.4611e-06</iyz>
      <izz>0.00018107</izz>
      <cx>0.03576</cx>
      <cy>-0.01736</cy>
      <cz>-0.00095</cz>
      <xyz>0.82991 0.157 0.790675</xyz>
      <rpy>0 -0 0</rpy>
      <turnGravityOff>true</turnGravityOff>
      <selfCollide>false</selfCollide>
    </body:box>
  </gazebo>
  <gazebo>
    <joint:screw name="l_gripper_r_screw_screw_joint">
      <body1/>
      <body2/>
      <anchor>l_gripper_motor_screw_link</anchor>
      <anchorOffset>0 0 0</anchorOffset>
      <axis>0 1 0</axis>
      <threadPitch>-3141.6</threadPitch>
    </joint:screw>
    <joint:screw name="l_gripper_l_screw_screw_joint">
      <body1/>
      <body2/>
      <anchor>l_gripper_motor_screw_link</anchor>
      <anchorOffset>0 0 0</anchorOffset>
      <axis>0 1 0</axis>
      <threadPitch>3141.6</threadPitch>
    </joint:screw>
  </gazebo>
  <gazebo>
    <joint:hinge name="l_gripper_r_parallel_root_joint">
      <body1/>
      <body2/>
      <anchor>l_gripper_palm_link</anchor>
      <axis>0 0 -1</axis>
      <damping>0.2</damping>
      <anchorOffset>0.05891 -0.031 0</anchorOffset>
    </joint:hinge>
    <joint:hinge name="l_gripper_l_parallel_root_joint">
      <body1/>
      <body2/>
      <anchor>l_gripper_palm_link</anchor>
      <axis>0 0 1</axis>
      <damping>0.2</damping>
      <anchorOffset>0.05891 0.031 0</anchorOffset>
    </joint:hinge>
    <joint:hinge name="l_gripper_r_parallel_tip_joint">
      <body1/>
      <body2/>
      <anchor>l_gripper_r_finger_tip_link</anchor>
      <axis>0 0 1</axis>
      <anchorOffset>-0.018 -0.021 0</anchorOffset>
    </joint:hinge>
    <joint:hinge name="l_gripper_l_parallel_tip_joint">
      <body1/>
      <body2/>
      <anchor>l_gripper_l_finger_tip_link</anchor>
      <axis>0 0 1</axis>
      <anchorOffset>-0.018 0.021 0</anchorOffset>
    </joint:hinge>
    <joint:slider name="l_gripper_joint">
      <body1/>
      <body2/>
      <anchor>l_gripper_l_finger_tip_link</anchor>
      <axis>0 1 0</axis>
    </joint:slider>
  </gazebo>
  <gazebo reference="l_gripper_motor_slider_link">
    <turnGravityOff>true</turnGravityOff>
    <material value="PR2/Red"/>
  </gazebo>
  <gazebo reference="l_gripper_motor_screw_link">
    <turnGravityOff>true</turnGravityOff>
    <material value="PR2/Red"/>
  </gazebo>
  <gazebo reference="l_gripper_l_parallel_link">
    <turnGravityOff>true</turnGravityOff>
    <material value="PR2/Red"/>
  </gazebo>
  <gazebo reference="l_gripper_r_parallel_link">
    <turnGravityOff>true</turnGravityOff>
    <material value="PR2/Red"/>
  </gazebo>
  <joint name="l_gripper_joint" type="prismatic">
    <parent link="l_gripper_r_finger_tip_link"/>
    <child link="l_gripper_l_finger_tip_frame"/>
    <origin rpy="0 0 0" xyz="0 0 0"/>
    <axis xyz="0 1 0"/>
    <limit effort="1000" lower="0" upper="0.09" velocity="0.2"/>
    <dynamics damping="10.0"/>
    <safety_controller k_position="20" k_velocity="5000" soft_lower_limit="-0.01" soft_upper_limit="0.088"/>
  </joint>
  <link name="l_gripper_l_finger_tip_frame"/>
  <gazebo reference="l_gripper_palm_link">
    <turnGravityOff>true</turnGravityOff>
  </gazebo>
  <gazebo>
    <controller:gazebo_ros_p3d name="p3d_l_gripper_palm_controller" plugin="libgazebo_ros_p3d.so">
      <alwaysOn>true</alwaysOn>
      <updateRate>100.0</updateRate>
      <bodyName/>
      <topicName>l_gripper_palm_pose_ground_truth</topicName>
      <xyzOffsets>0 0 0</xyzOffsets>
      <rpyOffsets>0 0 0</rpyOffsets>
      <gaussianNoise>0.0</gaussianNoise>
      <frameName>map</frameName>
      <interface:position name="p3d_l_gripper_palm_position_iface"/>
    </controller:gazebo_ros_p3d>
    <gripper name="l_grasp_hack">


      <grasp_check attach_steps="20" detach_steps="40" min_contact_count="2"/>


      <gripper_link>l_gripper_r_finger_tip_link</gripper_link>


      <gripper_link>l_gripper_l_finger_tip_link</gripper_link>


      <palm_link>l_gripper_palm_link</palm_link>


    </gripper>
  </gazebo>
  <transmission name="l_gripper_trans" type="pr2_mechanism_model/PR2GripperTransmission">
    <actuator name="l_gripper_motor"/>
    <gap_joint L0="0.0375528" a="0.0683698" b="0.0433849" gear_ratio="40.095" h="0.0" mechanical_reduction="1.0" name="l_gripper_joint" phi0="0.518518122146" r="0.0915" screw_reduction="0.004" t0="-0.0001914" theta0="0.0628824676201"/>
    <use_simulated_gripper_joint/>
    <passive_joint name="l_gripper_l_finger_joint"/>
    <passive_joint name="l_gripper_r_finger_joint"/>
    <passive_joint name="l_gripper_r_finger_tip_joint"/>
    <passive_joint name="l_gripper_l_finger_tip_joint"/>
    <simulated_actuated_joint name="l_gripper_motor_screw_joint" passive_actuated_joint="l_gripper_motor_slider_joint" simulated_reduction="3141.6"/>
  </transmission>
  <joint name="l_forearm_cam_frame_joint" type="fixed">
    <parent link="l_forearm_roll_link"/>
    <child link="l_forearm_cam_frame"/>
    <origin rpy="-1.519018246588 -0.505503653211 -0.039797032229" xyz="0.139614014734 0.006626381963 0.05025376863"/>
  </joint>
  <link name="l_forearm_cam_frame">
    <inertial>
      <mass value="0.01"/>
      <origin xyz="0 0 0"/>
      <inertia ixx="0.001" ixy="0" ixz="0" iyy="0.001" iyz="0" izz="0.001"/>
    </inertial>
  </link>
  <joint name="l_forearm_cam_optical_frame_joint" type="fixed">
    <parent link="l_forearm_cam_frame"/>
    <child link="l_forearm_cam_optical_frame"/>
    <origin rpy="-1.57079632679 0 -1.57079632679" xyz="0 0 0"/>
  </joint>
  <link name="l_forearm_cam_optical_frame"/>
  <gazebo reference="l_forearm_cam_frame">
    <sensor:camera name="l_forearm_cam_sensor">
      <imageSize>640 480</imageSize>
      <imageFormat>R8G8B8</imageFormat>
      <hfov>90</hfov>
      <nearClip>0.1</nearClip>
      <farClip>100</farClip>
      <updateRate>25.0</updateRate>
      <controller:gazebo_ros_depth_camera name="l_forearm_cam_controller" plugin="libgazebo_ros_depth_camera.so">
        <alwaysOn>true</alwaysOn>
        <updateRate>25.0</updateRate>
        <cameraName>l_forearm_cam</cameraName>
        <imageTopicName>image_raw</imageTopicName>
        <cameraInfoTopicName>camera_info</cameraInfoTopicName>
        <frameName>l_forearm_cam_optical_frame</frameName>
        <hackBaseline>0</hackBaseline>
        <CxPrime>320.5</CxPrime>
        <Cx>320.5</Cx>
        <Cy>240.5</Cy>
        <focalLength>320</focalLength>
        <distortionK1>0.0</distortionK1>
        <distortionK2>0.0</distortionK2>
        <distortionK3>0.0</distortionK3>
        <distortionT1>0.0</distortionT1>
        <distortionT2>0.0</distortionT2>
        <interface:camera name="l_forearm_cam_iface"/>
      </controller:gazebo_ros_depth_camera>
    </sensor:camera>
    <turnGravityOff>true</turnGravityOff>
    <material>PR2/Blue</material>
  </gazebo>
  <joint name="r_forearm_cam_frame_joint" type="fixed">
    <parent link="r_forearm_roll_link"/>
    <child link="r_forearm_cam_frame"/>
    <origin rpy="1.537753491172 -0.581937292213 0.019945615233" xyz="0.143291260145 -0.013560007182 0.049432121907"/>
  </joint>
  <link name="r_forearm_cam_frame">
    <inertial>
      <mass value="0.01"/>
      <origin xyz="0 0 0"/>
      <inertia ixx="0.001" ixy="0" ixz="0" iyy="0.001" iyz="0" izz="0.001"/>
    </inertial>
  </link>
  <joint name="r_forearm_cam_optical_frame_joint" type="fixed">
    <parent link="r_forearm_cam_frame"/>
    <child link="r_forearm_cam_optical_frame"/>
    <origin rpy="-1.57079632679 0 -1.57079632679" xyz="0 0 0"/>
  </joint>
  <link name="r_forearm_cam_optical_frame"/>
  <gazebo reference="r_forearm_cam_frame">
    <sensor:camera name="r_forearm_cam_sensor">
      <imageSize>640 480</imageSize>
      <imageFormat>R8G8B8</imageFormat>
      <hfov>90</hfov>
      <nearClip>0.1</nearClip>
      <farClip>100</farClip>
      <updateRate>25.0</updateRate>
      <controller:gazebo_ros_depth_camera name="r_forearm_cam_controller" plugin="libgazebo_ros_depth_camera.so">
        <alwaysOn>true</alwaysOn>
        <updateRate>25.0</updateRate>
        <cameraName>r_forearm_cam</cameraName>
        <imageTopicName>image_raw</imageTopicName>
        <cameraInfoTopicName>camera_info</cameraInfoTopicName>
        <frameName>r_forearm_cam_optical_frame</frameName>
        <hackBaseline>0</hackBaseline>
        <CxPrime>320.5</CxPrime>
        <Cx>320.5</Cx>
        <Cy>240.5</Cy>
        <focalLength>320</focalLength>
        <distortionK1>0.0</distortionK1>
        <distortionK2>0.0</distortionK2>
        <distortionK3>0.0</distortionK3>
        <distortionT1>0.0</distortionT1>
        <distortionT2>0.0</distortionT2>
        <interface:camera name="r_forearm_cam_iface"/>
      </controller:gazebo_ros_depth_camera>
    </sensor:camera>
    <turnGravityOff>true</turnGravityOff>
    <material>PR2/Blue</material>
  </gazebo>
</robot>
